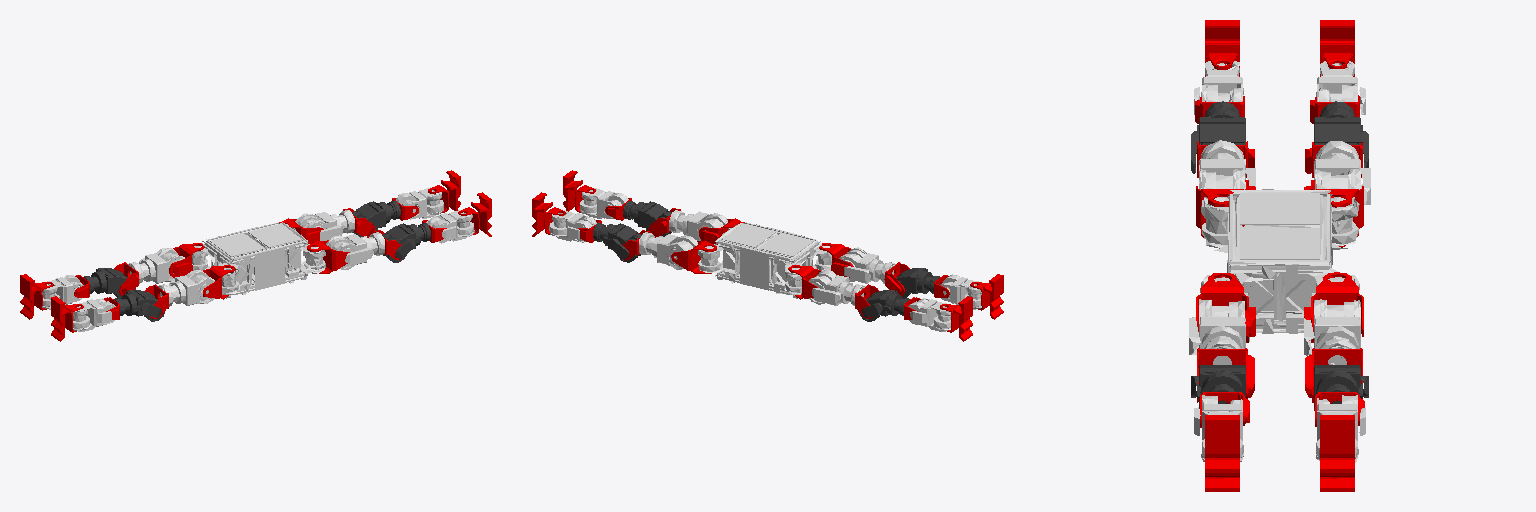
--- Render facts (derived) ---
3 views of the same robot in one strip: view 1: azimuth 30°, elevation 25°; view 2: azimuth 150°, elevation 25°; view 3: azimuth 270°, elevation 25° (orthographic).
Model warec with 37 links and 36 joints (20 revolute, 8 continuous, 8 fixed), rooted at BASE, posed every joint at zero.
Visible links, largest first — view 1: BASE, FR_HIP_P, RR_HIP_P, RL_HIP_P, FL_HIP_P, FR_KNEE_P, RR_ANKLE_P, RR_KNEE_P, FR_ANKLE_P, FL_ANKLE_P, FL_KNEE_P, RL_KNEE_P (+6 smaller); view 2: BASE, RL_HIP_P, FL_HIP_P, RR_HIP_P, FR_HIP_P, FL_KNEE_P, RL_ANKLE_P, RL_KNEE_P, FL_ANKLE_P, FR_ANKLE_P, FR_KNEE_P, RR_ANKLE_P (+4 smaller); view 3: BASE, FL_HOOK, FR_HOOK, FL_HIP_P, FR_HIP_P, RL_HIP_P, RR_HIP_P, RR_KNEE_P, RL_KNEE_P, RL_ANKLE_P, FR_HIP_R, RR_ANKLE_P (+12 smaller).
Boxes of the visible links, left/top/right/bottom form: BASE: left=192, top=222, right=325, bottom=298; FR_HIP_P: left=326, top=232, right=384, bottom=269; RR_HIP_P: left=158, top=270, right=214, bottom=306; RL_HIP_P: left=128, top=248, right=184, bottom=283; FL_HIP_P: left=295, top=210, right=354, bottom=240; FR_KNEE_P: left=382, top=223, right=430, bottom=262; RR_ANKLE_P: left=72, top=298, right=115, bottom=331; RR_KNEE_P: left=114, top=290, right=164, bottom=321; FR_ANKLE_P: left=426, top=210, right=474, bottom=243; FL_ANKLE_P: left=396, top=187, right=443, bottom=219; FL_KNEE_P: left=352, top=201, right=400, bottom=236; RL_KNEE_P: left=84, top=268, right=135, bottom=298; BASE: left=698, top=222, right=831, bottom=298; RL_HIP_P: left=809, top=270, right=865, bottom=305; FL_HIP_P: left=639, top=232, right=697, bottom=269; RR_HIP_P: left=839, top=247, right=895, bottom=283; FR_HIP_P: left=669, top=210, right=727, bottom=240; FL_KNEE_P: left=593, top=223, right=641, bottom=262; RL_ANKLE_P: left=908, top=298, right=950, bottom=331; RL_KNEE_P: left=858, top=290, right=909, bottom=321; FL_ANKLE_P: left=549, top=209, right=596, bottom=242; FR_ANKLE_P: left=580, top=188, right=628, bottom=218; FR_KNEE_P: left=623, top=201, right=671, bottom=236; RR_ANKLE_P: left=940, top=274, right=981, bottom=309; BASE: left=1200, top=189, right=1359, bottom=341; FL_HOOK: left=1320, top=415, right=1354, bottom=491; FR_HOOK: left=1205, top=415, right=1239, bottom=491; FL_HIP_P: left=1304, top=299, right=1360, bottom=364; FR_HIP_P: left=1189, top=299, right=1245, bottom=364; RL_HIP_P: left=1314, top=141, right=1370, bottom=204; RR_HIP_P: left=1199, top=140, right=1255, bottom=189; RR_KNEE_P: left=1191, top=101, right=1245, bottom=173; RL_KNEE_P: left=1314, top=101, right=1368, bottom=167; RL_ANKLE_P: left=1316, top=61, right=1365, bottom=114; FR_HIP_R: left=1196, top=273, right=1255, bottom=342; RR_ANKLE_P: left=1194, top=61, right=1243, bottom=114.
Bounding box of the posed robot: 2.71 × 0.5218 × 0.2675 m (x, y, z).
Meshes: 33 distinct files referenced, 33 mesh visuals loaded (33 Collada DAE).

The robot description file, URDF, robot "warec":
<robot name="warec">
  <link name="RL_HIP_R">
    <inertial>
      <mass value="2.4001" />
      <origin xyz="-0.00771 -0.01238 -0.09652" rpy="0 -0 0" />
      <inertia ixx="0.01764829" ixy="-0.00022958" ixz="-0.00178949" iyy="0.01677372" iyz="0.00202659" izz="0.00834906" />
    </inertial>
    <visual>
      <origin xyz="0.0 0.0 0.0" rpy="0.0 -0.0 0.0" />
      <geometry>
        <mesh filename="package://aizu_spider_tnk_description/urdf/warec/warec-RL_HIP_R-visual-0.dae" scale="1.0 1.0 1.0" />
      </geometry>
    </visual>
    <collision>
      <origin xyz="-0.0705 0.0 0.0" rpy="1.57079632679 -3.88578058619e-16 1.57079632679" />
      <geometry>
        <cylinder radius="0.04" length="0.008" />
      </geometry>
    </collision>
    <collision>
      <origin xyz="-0.0705 -0.021 -0.044" rpy="1.23918376892 -0.0 -0.0" />
      <geometry>
        <box size="0.008 0.06 0.06" />
      </geometry>
    </collision>
    <collision>
      <origin xyz="-0.0705 0.021 -0.044" rpy="1.90240888467 -0.0 -0.0" />
      <geometry>
        <box size="0.008 0.06 0.06" />
      </geometry>
    </collision>
    <collision>
      <origin xyz="-0.0705 0.0 -0.071" rpy="1.57079632679 -0.0 -0.0" />
      <geometry>
        <box size="0.008 0.022 0.12" />
      </geometry>
    </collision>
    <collision>
      <origin xyz="0.0 0.0 -0.077" rpy="-0.0 1.57079632679 0.0" />
      <geometry>
        <box size="0.01 0.125 0.14" />
      </geometry>
    </collision>
    <collision>
      <origin xyz="0.0705 0.0 0.0" rpy="1.57079632679 -3.88578058619e-16 1.57079632679" />
      <geometry>
        <cylinder radius="0.025" length="0.008" />
      </geometry>
    </collision>
    <collision>
      <origin xyz="0.0705 -0.026 -0.048" rpy="1.08210413624 -0.0 -0.0" />
      <geometry>
        <box size="0.008 0.05 0.05" />
      </geometry>
    </collision>
    <collision>
      <origin xyz="0.0705 -0.012 -0.022" rpy="1.08210413624 -0.0 -0.0" />
      <geometry>
        <box size="0.008 0.05 0.05" />
      </geometry>
    </collision>
    <collision>
      <origin xyz="0.0705 0.026 -0.048" rpy="2.05948851735 -0.0 -0.0" />
      <geometry>
        <box size="0.008 0.05 0.05" />
      </geometry>
    </collision>
    <collision>
      <origin xyz="0.0705 0.012 -0.022" rpy="2.05948851735 -0.0 -0.0" />
      <geometry>
        <box size="0.008 0.05 0.05" />
      </geometry>
    </collision>
    <collision>
      <origin xyz="0.0705 0.0 -0.071" rpy="1.57079632679 -0.0 -0.0" />
      <geometry>
        <box size="0.008 0.024 0.123" />
      </geometry>
    </collision>
    <collision>
      <origin xyz="0.0705 0.0 -0.05" rpy="1.57079632679 -0.0 -0.0" />
      <geometry>
        <box size="0.008 0.024 0.02" />
      </geometry>
    </collision>
    <collision>
      <origin xyz="0.0 0.0705 -0.17" rpy="1.57079632679 1.57079632679 0.0" />
      <geometry>
        <cylinder radius="0.03" length="0.008" />
      </geometry>
    </collision>
    <collision>
      <origin xyz="-0.026 0.0705 -0.11" rpy="-0.0 1.2217304764 -0.0" />
      <geometry>
        <box size="0.05 0.008 0.05" />
      </geometry>
    </collision>
    <collision>
      <origin xyz="-0.0163 0.0705 -0.136" rpy="-0.0 1.2217304764 -0.0" />
      <geometry>
        <box size="0.05 0.008 0.05" />
      </geometry>
    </collision>
    <collision>
      <origin xyz="0.026 0.0705 -0.11" rpy="-3.14159265359 1.2217304764 -3.14159265359" />
      <geometry>
        <box size="0.05 0.008 0.05" />
      </geometry>
    </collision>
    <collision>
      <origin xyz="0.0163 0.0705 -0.136" rpy="-3.14159265359 1.2217304764 -3.14159265359" />
      <geometry>
        <box size="0.05 0.008 0.05" />
      </geometry>
    </collision>
    <collision>
      <origin xyz="0.0 0.0685 -0.085" rpy="-0.0 1.57079632679 0.0" />
      <geometry>
        <box size="0.02 0.013 0.118" />
      </geometry>
    </collision>
    <collision>
      <origin xyz="0.0 0.0705 -0.099" rpy="-0.0 1.57079632679 0.0" />
      <geometry>
        <box size="0.024 0.008 0.02" />
      </geometry>
    </collision>
    <collision>
      <origin xyz="0.0 -0.0705 -0.17" rpy="1.57079632679 1.57079632679 0.0" />
      <geometry>
        <cylinder radius="0.046" length="0.008" />
      </geometry>
    </collision>
    <collision>
      <origin xyz="-0.03 -0.0705 -0.11" rpy="-0.0 1.41371669412 -0.0" />
      <geometry>
        <box size="0.05 0.008 0.05" />
      </geometry>
    </collision>
    <collision>
      <origin xyz="-0.0263 -0.0705 -0.136" rpy="-0.0 1.41371669412 -0.0" />
      <geometry>
        <box size="0.06 0.008 0.05" />
      </geometry>
    </collision>
    <collision>
      <origin xyz="0.03 -0.0705 -0.11" rpy="-3.14159265359 1.41371669412 -3.14159265359" />
      <geometry>
        <box size="0.05 0.008 0.05" />
      </geometry>
    </collision>
    <collision>
      <origin xyz="0.0263 -0.0705 -0.136" rpy="-3.14159265359 1.41371669412 -3.14159265359" />
      <geometry>
        <box size="0.06 0.008 0.05" />
      </geometry>
    </collision>
    <collision>
      <origin xyz="0.0 -0.0685 -0.085" rpy="-0.0 1.57079632679 0.0" />
      <geometry>
        <box size="0.02 0.013 0.118" />
      </geometry>
    </collision>
    <collision>
      <origin xyz="0.0 -0.0705 -0.11" rpy="-0.0 1.57079632679 0.0" />
      <geometry>
        <box size="0.04 0.008 0.02" />
      </geometry>
    </collision>
    <collision>
      <origin xyz="0.0 -0.085 -0.14" rpy="-0.0 1.57079632679 0.0" />
      <geometry>
        <box size="0.117 0.02 0.063" />
      </geometry>
    </collision>
  </link>
  <link name="RL_HIP_P">
    <inertial>
      <mass value="8.64" />
      <origin xyz="-1e-05 0.00091 -0.07045" rpy="0 -0 0" />
      <inertia ixx="0.08705723" ixy="-5.01e-06" ixz="-6.22e-06" iyy="0.08623435" iyz="0.00027574" izz="0.02298262" />
    </inertial>
    <visual>
      <origin xyz="0.0 0.0 0.0" rpy="0.0 -0.0 0.0" />
      <geometry>
        <mesh filename="package://aizu_spider_tnk_description/urdf/warec/warec-RL_HIP_P-visual-0.dae" scale="1.0 1.0 1.0" />
      </geometry>
    </visual>
    <collision>
      <origin xyz="0.0 0.0 -0.092" rpy="0.0 -0.0 0.0" />
      <geometry>
        <box size="0.12 0.13 0.06" />
      </geometry>
    </collision>
    <collision>
      <origin xyz="0.0 0.0815 -0.065" rpy="-0.0 1.57079632679 0.0" />
      <geometry>
        <box size="0.19 0.029 0.058" />
      </geometry>
    </collision>
    <collision>
      <origin xyz="0.0 0.0 0.0" rpy="1.57079632679 1.57079632679 0.0" />
      <geometry>
        <cylinder radius="0.061" length="0.045" />
      </geometry>
    </collision>
    <collision>
      <origin xyz="0.0 -0.038 0.0" rpy="1.57079632679 1.57079632679 0.0" />
      <geometry>
        <cylinder radius="0.078" length="0.052" />
      </geometry>
    </collision>
    <collision>
      <origin xyz="0.0 0.045 0.0" rpy="1.57079632679 1.57079632679 0.0" />
      <geometry>
        <cylinder radius="0.078" length="0.038" />
      </geometry>
    </collision>
    <collision>
      <origin xyz="0.0 0.0 -0.138" rpy="3.14159265359 -0.0 0.0" />
      <geometry>
        <cylinder radius="0.061" length="0.042" />
      </geometry>
    </collision>
    <collision>
      <origin xyz="0.0 0.0 -0.222" rpy="3.14159265359 -0.0 0.0" />
      <geometry>
        <cylinder radius="0.061" length="0.042" />
      </geometry>
    </collision>
    <collision>
      <origin xyz="0.0 0.0 -0.178" rpy="3.14159265359 -0.0 0.0" />
      <geometry>
        <cylinder radius="0.045" length="0.05" />
      </geometry>
    </collision>
  </link>
  <link name="RL_HIP_Y">
    <inertial>
      <mass value="1.72" />
      <origin xyz="0.0199 -0.01113 -0.02905" rpy="0 -0 0" />
      <inertia ixx="0.00864071" ixy="-0.00039465" ixz="-0.00167025" iyy="0.00651989" iyz="0.00083342" izz="0.00534558" />
    </inertial>
    <visual>
      <origin xyz="0.0 0.0 0.0" rpy="0.0 -0.0 0.0" />
      <geometry>
        <mesh filename="package://aizu_spider_tnk_description/urdf/warec/warec-RL_HIP_Y-visual-0.dae" scale="1.0 1.0 1.0" />
      </geometry>
    </visual>
    <collision>
      <origin xyz="0.0 0.0 -0.008" rpy="1.57079632679 -0.0 -0.0" />
      <geometry>
        <box size="0.086 0.01 0.145" />
      </geometry>
    </collision>
    <collision>
      <origin xyz="0.0 0.07125 -0.024" rpy="0.0 -0.0 0.0" />
      <geometry>
        <box size="0.08 0.006 0.04" />
      </geometry>
    </collision>
    <collision>
      <origin xyz="0.001 0.07125 -0.056" rpy="-0.0 0.872664625997 -0.0" />
      <geometry>
        <box size="0.08 0.006 0.04" />
      </geometry>
    </collision>
    <collision>
      <origin xyz="0.0458 0.07125 -0.051" rpy="-0.0 0.785398163397 -0.0" />
      <geometry>
        <box size="0.057 0.006 0.04" />
      </geometry>
    </collision>
    <collision>
      <origin xyz="0.0 0.0 -0.005" rpy="3.14159265359 -0.0 0.0" />
      <geometry>
        <cylinder radius="0.04" length="0.01" />
      </geometry>
    </collision>
    <collision>
      <origin xyz="0.043 0.07125 -0.075" rpy="1.57079632679 -0.0 -0.0" />
      <geometry>
        <cylinder radius="0.041" length="0.006" />
      </geometry>
    </collision>
    <collision>
      <origin xyz="0.0 -0.07125 -0.024" rpy="0.0 -0.0 0.0" />
      <geometry>
        <box size="0.08 0.006 0.04" />
      </geometry>
    </collision>
    <collision>
      <origin xyz="0.001 -0.07125 -0.056" rpy="-0.0 0.872664625997 -0.0" />
      <geometry>
        <box size="0.08 0.006 0.04" />
      </geometry>
    </collision>
    <collision>
      <origin xyz="0.0458 -0.07125 -0.051" rpy="-0.0 0.785398163397 -0.0" />
      <geometry>
        <box size="0.057 0.006 0.04" />
      </geometry>
    </collision>
    <collision>
      <origin xyz="0.018 -0.08035 -0.058" rpy="-0.0 0.767944870878 -0.0" />
      <geometry>
        <box size="0.12 0.024 0.038" />
      </geometry>
    </collision>
    <collision>
      <origin xyz="0.043 -0.06825 -0.075" rpy="1.57079632679 -0.0 -0.0" />
      <geometry>
        <cylinder radius="0.041" length="0.012" />
      </geometry>
    </collision>
  </link>
  <link name="RL_KNEE_P">
    <inertial>
      <mass value="5.72" />
      <origin xyz="-0.02134 -0.00027 -0.06496" rpy="0 -0 0" />
      <inertia ixx="0.04513699" ixy="-9.396e-05" ixz="0.00925777" iyy="0.04550396" iyz="-0.00017902" izz="0.01607654" />
    </inertial>
    <visual>
      <origin xyz="0.0 0.0 0.0" rpy="0.0 -0.0 0.0" />
      <geometry>
        <mesh filename="package://aizu_spider_tnk_description/urdf/warec/warec-RL_KNEE_P-visual-0.dae" scale="1.0 1.0 1.0" />
      </geometry>
    </visual>
    <collision>
      <origin xyz="-0.045 0.0 -0.09" rpy="-0.0 1.57079632679 0.0" />
      <geometry>
        <box size="0.04 0.13 0.1" />
      </geometry>
    </collision>
    <collision>
      <origin xyz="-0.03 0.0 -0.04" rpy="-3.14159265359 1.308996939 -3.14159265359" />
      <geometry>
        <box size="0.068 0.13 0.081" />
      </geometry>
    </collision>
    <collision>
      <origin xyz="-0.023 0.078 -0.036" rpy="-0.0 0.575958653158 -0.0" />
      <geometry>
        <box size="0.065 0.024 0.142" />
      </geometry>
    </collision>
    <collision>
      <origin xyz="-0.047 0.071 -0.118" rpy="-0.191986217719 -0.0 0.0" />
      <geometry>
        <box size="0.03 0.016 0.058" />
      </geometry>
    </collision>
    <collision>
      <origin xyz="0.0 -0.05025 0.0" rpy="1.57079632679 -0.0 -0.0" />
      <geometry>
        <cylinder radius="0.061" length="0.03" />
      </geometry>
    </collision>
    <collision>
      <origin xyz="0.0 -0.02925 0.0" rpy="1.57079632679 -0.0 -0.0" />
      <geometry>
        <cylinder radius="0.057" length="0.013" />
      </geometry>
    </collision>
    <collision>
      <origin xyz="0.0 -0.004 0.0" rpy="1.57079632679 -0.0 -0.0" />
      <geometry>
        <cylinder radius="0.045" length="0.068" />
      </geometry>
    </collision>
    <collision>
      <origin xyz="0.0 0.048 0.0" rpy="1.57079632679 -0.0 -0.0" />
      <geometry>
        <cylinder radius="0.061" length="0.036" />
      </geometry>
    </collision>
    <collision>
      <origin xyz="-0.044 0.0 -0.1284" rpy="3.14159265359 -0.0 0.0" />
      <geometry>
        <cylinder radius="0.061" length="0.036" />
      </geometry>
    </collision>
    <collision>
      <origin xyz="-0.046 0.0 -0.16184" rpy="3.14159265359 -0.0 0.0" />
      <geometry>
        <cylinder radius="0.039" length="0.033" />
      </geometry>
    </collision>
    <collision>
      <origin xyz="-0.046 0.0 -0.1844" rpy="3.14159265359 -0.0 0.0" />
      <geometry>
        <cylinder radius="0.046" length="0.013" />
      </geometry>
    </collision>
    <collision>
      <origin xyz="-0.046 0.0 -0.2024" rpy="3.14159265359 -0.0 0.0" />
      <geometry>
        <cylinder radius="0.05" length="0.027" />
      </geometry>
    </collision>
  </link>
  <link name="RL_ANKLE_Y">
    <inertial>
      <mass value="1.16" />
      <origin xyz="0.0 -0.00909 -0.02873" rpy="0 -0 0" />
      <inertia ixx="0.00482359" ixy="3e-08" ixz="0.0" iyy="0.0033678" iyz="0.00044654" izz="0.00216019" />
    </inertial>
    <visual>
      <origin xyz="0.0 0.0 0.0" rpy="0.0 -0.0 0.0" />
      <geometry>
        <mesh filename="package://aizu_spider_tnk_description/urdf/warec/warec-RL_ANKLE_Y-visual-0.dae" scale="1.0 1.0 1.0" />
      </geometry>
    </visual>
    <collision>
      <origin xyz="0.0 0.0 -0.009" rpy="0.0 -0.0 0.0" />
      <geometry>
        <box size="0.09 0.13 0.007" />
      </geometry>
    </collision>
    <collision>
      <origin xyz="0.0 0.0618 -0.08" rpy="1.57079632679 1.57079632679 0.0" />
      <geometry>
        <cylinder radius="0.03" length="0.008" />
      </geometry>
    </collision>
    <collision>
      <origin xyz="-0.0097 0.0618 -0.057" rpy="-0.0 1.34390352404 -0.0" />
      <geometry>
        <box size="0.05 0.008 0.05" />
      </geometry>
    </collision>
    <collision>
      <origin xyz="0.0097 0.0618 -0.057" rpy="-3.14159265359 1.34390352404 -3.14159265359" />
      <geometry>
        <box size="0.05 0.008 0.05" />
      </geometry>
    </collision>
    <collision>
      <origin xyz="0.0 0.0618 -0.025" rpy="-0.0 1.57079632679 0.0" />
      <geometry>
        <box size="0.035 0.008 0.0797" />
      </geometry>
    </collision>
    <collision>
      <origin xyz="0.0 -0.0618 -0.08" rpy="1.57079632679 1.57079632679 0.0" />
      <geometry>
        <cylinder radius="0.03" length="0.008" />
      </geometry>
    </collision>
    <collision>
      <origin xyz="-0.0097 -0.0618 -0.057" rpy="-0.0 1.34390352404 -0.0" />
      <geometry>
        <box size="0.05 0.008 0.05" />
      </geometry>
    </collision>
    <collision>
      <origin xyz="0.0097 -0.0618 -0.057" rpy="-3.14159265359 1.34390352404 -3.14159265359" />
      <geometry>
        <box size="0.05 0.008 0.05" />
      </geometry>
    </collision>
    <collision>
      <origin xyz="0.0 -0.0618 -0.025" rpy="-0.0 1.57079632679 0.0" />
      <geometry>
        <box size="0.035 0.008 0.0797" />
      </geometry>
    </collision>
    <collision>
      <origin xyz="0.0 -0.0705 -0.08" rpy="1.57079632679 1.57079632679 0.0" />
      <geometry>
        <cylinder radius="0.02" length="0.0155" />
      </geometry>
    </collision>
    <collision>
      <origin xyz="-0.0097 -0.0705 -0.057" rpy="-0.0 1.34390352404 -0.0" />
      <geometry>
        <box size="0.04 0.0155 0.03" />
      </geometry>
    </collision>
    <collision>
      <origin xyz="0.0097 -0.0705 -0.057" rpy="-3.14159265359 1.34390352404 -3.14159265359" />
      <geometry>
        <box size="0.04 0.0155 0.03" />
      </geometry>
    </collision>
    <collision>
      <origin xyz="0.0 -0.0705 -0.029" rpy="-0.0 1.57079632679 0.0" />
      <geometry>
        <box size="0.026 0.0155 0.058" />
      </geometry>
    </collision>
  </link>
  <link name="RL_ANKLE_P">
    <inertial>
      <mass value="5.06" />
      <origin xyz="0.00215 0.0017 -0.07672" rpy="0 -0 0" />
      <inertia ixx="0.03534068" ixy="-2.587e-05" ixz="-0.00070201" iyy="0.0355447" iyz="0.00069448" izz="0.01095592" />
    </inertial>
    <visual>
      <origin xyz="0.0 0.0 0.0" rpy="0.0 -0.0 0.0" />
      <geometry>
        <mesh filename="package://aizu_spider_tnk_description/urdf/warec/warec-RL_ANKLE_P-visual-0.dae" scale="1.0 1.0 1.0" />
      </geometry>
    </visual>
    <collision>
      <origin xyz="0.0 0.0 -0.055" rpy="-0.0 1.57079632679 0.0" />
      <geometry>
        <box size="0.04 0.117 0.11" />
      </geometry>
    </collision>
    <collision>
      <origin xyz="0.0 -0.0557 -0.02" rpy="-0.0 1.57079632679 0.0" />
      <geometry>
        <box size="0.04 0.006 0.1" />
      </geometry>
    </collision>
    <collision>
      <origin xyz="0.0 0.068 -0.027" rpy="-0.0 1.57079632679 0.0" />
      <geometry>
        <box size="0.1 0.03 0.06" />
      </geometry>
    </collision>
    <collision>
      <origin xyz="-0.0545 0.0 -0.097" rpy="-0.0 1.57079632679 0.0" />
      <geometry>
        <box size="0.045 0.084 0.0058" />
      </geometry>
    </collision>
    <collision>
      <origin xyz="0.0545 0.0 -0.097" rpy="-0.0 1.57079632679 0.0" />
      <geometry>
        <box size="0.045 0.084 0.0058" />
      </geometry>
    </collision>
    <collision>
      <origin xyz="0.07 0.0 -0.121" rpy="-0.0 1.57079632679 0.0" />
      <geometry>
        <box size="0.124 0.058 0.024" />
      </geometry>
    </collision>
    <collision>
      <origin xyz="0.0 -0.0402 0.0" rpy="1.57079632679 1.57079632679 0.0" />
      <geometry>
        <cylinder radius="0.05" length="0.037" />
      </geometry>
    </collision>
    <collision>
      <origin xyz="0.0 -0.0025 0.0" rpy="1.57079632679 1.57079632679 0.0" />
      <geometry>
        <cylinder radius="0.038" length="0.037" />
      </geometry>
    </collision>
    <collision>
      <origin xyz="0.0 0.035 0.0" rpy="1.57079632679 1.57079632679 0.0" />
      <geometry>
        <cylinder radius="0.061" length="0.046" />
      </geometry>
    </collision>
    <collision>
      <origin xyz="-0.0395 0.0 -0.154" rpy="1.57079632679 -3.88578058619e-16 1.57079632679" />
      <geometry>
        <cylinder radius="0.05" length="0.036" />
      </geometry>
    </collision>
    <collision>
      <origin xyz="-0.0035 0.0 -0.154" rpy="1.57079632679 -3.88578058619e-16 1.57079632679" />
      <geometry>
        <cylinder radius="0.038" length="0.036" />
      </geometry>
    </collision>
    <collision>
      <origin xyz="0.035 0.0 -0.154" rpy="1.57079632679 -3.88578058619e-16 1.57079632679" />
      <geometry>
        <cylinder radius="0.061" length="0.0454" />
      </geometry>
    </collision>
  </link>
  <link name="RL_ANKLE_R">
    <inertial>
      <mass value="0.82" />
      <origin xyz="-0.01007 0.0 -0.02816" rpy="0 -0 0" />
      <inertia ixx="0.00132859" ixy="-2.8e-07" ixz="-0.00019601" iyy="0.00261108" iyz="-1.2e-07" izz="0.00200116" />
    </inertial>
    <visual>
      <origin xyz="0.0 0.0 0.0" rpy="0.0 -0.0 0.0" />
      <geometry>
        <mesh filename="package://aizu_spider_tnk_description/urdf/warec/warec-RL_ANKLE_R-visual-0.dae" scale="1.0 1.0 1.0" />
      </geometry>
    </visual>
    <collision>
      <origin xyz="0.0 0.0 -0.07" rpy="0.0 -0.0 0.0" />
      <geometry>
        <box size="0.12 0.077 0.006" />
      </geometry>
    </collision>
    <collision>
      <origin xyz="-0.063 0.0 -0.06" rpy="-0.0 1.57079632679 0.0" />
      <geometry>
        <box size="0.024 0.08 0.0057" />
      </geometry>
    </collision>
    <collision>
      <origin xyz="-0.063 -0.0139 -0.035" rpy="1.308996939 -0.0 -0.0" />
      <geometry>
        <box size="0.0057 0.04 0.044" />
      </geometry>
    </collision>
    <collision>
      <origin xyz="-0.063 0.0155 -0.035" rpy="0.261799387799 -0.0 -0.0" />
      <geometry>
        <box size="0.0057 0.04 0.044" />
      </geometry>
    </collision>
    <collision>
      <origin xyz="-0.06 0.0 0.0" rpy="1.57079632679 -3.88578058619e-16 1.57079632679" />
      <geometry>
        <cylinder radius="0.028" length="0.012" />
      </geometry>
    </collision>
    <collision>
      <origin xyz="0.063 0.0 -0.06" rpy="-0.0 1.57079632679 0.0" />
      <geometry>
        <box size="0.024 0.08 0.0057" />
      </geometry>
    </collision>
    <collision>
      <origin xyz="0.063 -0.0139 -0.035" rpy="1.308996939 -0.0 -0.0" />
      <geometry>
        <box size="0.0057 0.04 0.044" />
      </geometry>
    </collision>
    <collision>
      <origin xyz="0.063 0.0155 -0.035" rpy="0.261799387799 -0.0 -0.0" />
      <geometry>
        <box size="0.0057 0.04 0.044" />
      </geometry>
    </collision>
    <collision>
      <origin xyz="0.063 0.0 0.0" rpy="1.57079632679 -3.88578058619e-16 1.57079632679" />
      <geometry>
        <cylinder radius="0.028" length="0.006" />
      </geometry>
    </collision>
  </link>
  <link name="RL_HOOK">
    <inertial>
      <mass value="1e-06" />
      <origin xyz="0 0 0" rpy="0 -0 0" />
      <inertia ixx="1.0" ixy="0.0" ixz="0.0" iyy="1.0" iyz="0.0" izz="1.0" />
    </inertial>
    <visual>
      <origin xyz="0.0 0.0 -0.0225" rpy="0.0 -0.0 0.0" />
      <geometry>
        <mesh filename="package://aizu_spider_tnk_description/urdf/warec/warec-RL_HOOK-visual-0.dae" scale="1.0 1.0 1.0" />
      </geometry>
    </visual>
    <collision>
      <origin xyz="0.0 0.0 0.0" rpy="3.14159265359 -0.0 0.0" />
      <geometry>
        <cylinder radius="0.05" length="0.045" />
      </geometry>
    </collision>
    <collision>
      <origin xyz="-0.0772 0.0 -0.045899999999999996" rpy="0.0 -0.0 0.0" />
      <geometry>
        <box size="0.1057 0.1 0.0126" />
      </geometry>
    </collision>
    <collision>
      <origin xyz="-0.1 0.0 -0.039099999999999996" rpy="-0.0 0.261799387799 -0.0" />
      <geometry>
        <box size="0.059 0.1 0.011" />
      </geometry>
    </collision>
    <collision>
      <origin xyz="-0.118 0.0 -0.0291" rpy="-0.0 0.785398163397 -0.0" />
      <geometry>
        <box size="0.02 0.1 0.011" />
      </geometry>
    </collision>
    <collision>
      <origin xyz="-0.1251 0.0 -0.0355" rpy="-0.0 1.57079632679 0.0" />
      <geometry>
        <box size="0.034 0.1 0.01" />
      </geometry>
    </collision>
    <collision>
      <origin xyz="0.0033 0.0 -0.0265" rpy="0.0 -0.0 0.0" />
      <geometry>
        <box size="0.143 0.1 0.0078" />
      </geometry>
    </collision>
    <collision>
      <origin xyz="-0.0414 0.0 -0.0353" rpy="0.0 -0.0 0.0" />
      <geometry>
        <box size="0.054 0.1 0.01" />
      </geometry>
    </collision>
    <collision>
      <origin xyz="-0.068 0.0 -0.0034000000000000002" rpy="-0.0 1.57079632679 0.0" />
      <geometry>
        <box size="0.042 0.1 0.0038" />
      </geometry>
    </collision>
    <collision>
      <origin xyz="-0.0705 0.0 -0.008499999999999999" rpy="-0.0 1.308996939 -0.0" />
      <geometry>
        <box size="0.042 0.1 0.007" />
      </geometry>
    </collision>
    <collision>
      <origin xyz="-0.0725 0.0 0.010800000000000004" rpy="-0.0 1.57079632679 0.0" />
      <geometry>
        <box size="0.0135 0.1 0.013" />
      </geometry>
    </collision>
    <collision>
      <origin xyz="-0.0787 0.0 0.013499999999999998" rpy="-0.0 1.57079632679 0.0" />
      <geometry>
        <box size="0.008 0.1 0.013" />
      </geometry>
    </collision>
    <collision>
      <origin xyz="-0.0772 0.0 0.008" rpy="-0.0 0.785398163397 -0.0" />
      <geometry>
        <box size="0.013 0.1 0.01" />
      </geometry>
    </collision>
    <collision>
      <origin xyz="-0.0164 0.0 -0.0373" rpy="-3.14159265359 0.785398163397 -3.14159265359" />
      <geometry>
        <box size="0.032 0.1 0.01" />
      </geometry>
    </collision>
    <collision>
      <origin xyz="0.01675 0.0 -0.0373" rpy="-0.0 0.785398163397 -0.0" />
      <geometry>
        <box size="0.032 0.1 0.01" />
      </geometry>
    </collision>
    <collision>
      <origin xyz="0.04275 0.0 -0.0373" rpy="-3.14159265359 0.785398163397 -3.14159265359" />
      <geometry>
        <box size="0.032 0.1 0.01" />
      </geometry>
    </collision>
    <collision>
      <origin xyz="0.0297 0.0 -0.0348" rpy="0.0 -0.0 0.0" />
      <geometry>
        <box size="0.027 0.1 0.017" />
      </geometry>
    </collision>
    <collision>
      <origin xyz="0.0297 0.0 -0.048600000000000004" rpy="0.0 -0.0 0.0" />
      <geometry>
        <box size="0.011 0.1 0.007" />
      </geometry>
    </collision>
    <collision>
      <origin xyz="0.0801 0.0 -0.0378" rpy="-0.0 0.785398163397 -0.0" />
      <geometry>
        <box size="0.028 0.1 0.014" />
      </geometry>
    </collision>
    <collision>
      <origin xyz="0.067 0.0 -0.028999999999999998" rpy="-0.0 0.349065850399 -0.0" />
      <geometry>
        <box size="0.013 0.1 0.008" />
      </geometry>
    </collision>
    <collision>
      <origin xyz="0.0897 0.0 -0.0475" rpy="0.0 -0.0 0.0" />
      <geometry>
        <box size="0.01 0.1 0.01" />
      </geometry>
    </collision>
  </link>
  <link name="RR_HIP_R">
    <inertial>
      <mass value="2.4001" />
      <origin xyz="-0.00771 0.01238 -0.09652" rpy="0 -0 0" />
      <inertia ixx="0.01764809" ixy="0.00022896" ixz="-0.00178956" iyy="0.01677341" iyz="-0.00202747" izz="0.00834914" />
    </inertial>
    <visual>
      <origin xyz="0.0 0.0 0.0" rpy="0.0 -0.0 0.0" />
      <geometry>
        <mesh filename="package://aizu_spider_tnk_description/urdf/warec/warec-RR_HIP_R-visual-0.dae" scale="1.0 1.0 1.0" />
      </geometry>
    </visual>
    <collision>
      <origin xyz="-0.0705 0.0 0.0" rpy="1.57079632679 -3.88578058619e-16 1.57079632679" />
      <geometry>
        <cylinder radius="0.04" length="0.008" />
      </geometry>
    </collision>
    <collision>
      <origin xyz="-0.0705 -0.021 -0.044" rpy="1.23918376892 -0.0 -0.0" />
      <geometry>
        <box size="0.008 0.06 0.06" />
      </geometry>
    </collision>
    <collision>
      <origin xyz="-0.0705 0.021 -0.044" rpy="1.90240888467 -0.0 -0.0" />
      <geometry>
        <box size="0.008 0.06 0.06" />
      </geometry>
    </collision>
    <collision>
      <origin xyz="-0.0705 0.0 -0.071" rpy="1.57079632679 -0.0 -0.0" />
      <geometry>
        <box size="0.008 0.022 0.12" />
      </geometry>
    </collision>
    <collision>
      <origin xyz="0.0 0.0 -0.077" rpy="-0.0 1.57079632679 0.0" />
      <geometry>
        <box size="0.01 0.125 0.14" />
      </geometry>
    </collision>
    <collision>
      <origin xyz="0.0705 0.0 0.0" rpy="1.57079632679 -3.88578058619e-16 1.57079632679" />
      <geometry>
        <cylinder radius="0.025" length="0.008" />
      </geometry>
    </collision>
    <collision>
      <origin xyz="0.0705 -0.026 -0.048" rpy="1.08210413624 -0.0 -0.0" />
      <geometry>
        <box size="0.008 0.05 0.05" />
      </geometry>
    </collision>
    <collision>
      <origin xyz="0.0705 -0.012 -0.022" rpy="1.08210413624 -0.0 -0.0" />
      <geometry>
        <box size="0.008 0.05 0.05" />
      </geometry>
    </collision>
    <collision>
      <origin xyz="0.0705 0.026 -0.048" rpy="2.05948851735 -0.0 -0.0" />
      <geometry>
        <box size="0.008 0.05 0.05" />
      </geometry>
    </collision>
    <collision>
      <origin xyz="0.0705 0.012 -0.022" rpy="2.05948851735 -0.0 -0.0" />
      <geometry>
        <box size="0.008 0.05 0.05" />
      </geometry>
    </collision>
    <collision>
      <origin xyz="0.0705 0.0 -0.071" rpy="1.57079632679 -0.0 -0.0" />
      <geometry>
        <box size="0.008 0.024 0.123" />
      </geometry>
    </collision>
    <collision>
      <origin xyz="0.0705 0.0 -0.05" rpy="1.57079632679 -0.0 -0.0" />
      <geometry>
        <box size="0.008 0.024 0.02" />
      </geometry>
    </collision>
    <collision>
      <origin xyz="0.0 0.0705 -0.17" rpy="1.57079632679 1.57079632679 0.0" />
      <geometry>
        <cylinder radius="0.046" length="0.008" />
      </geometry>
    </collision>
    <collision>
      <origin xyz="-0.03 0.0705 -0.11" rpy="-0.0 1.41371669412 -0.0" />
      <geometry>
        <box size="0.05 0.008 0.05" />
      </geometry>
    </collision>
    <collision>
      <origin xyz="-0.0263 0.0705 -0.136" rpy="-0.0 1.41371669412 -0.0" />
      <geometry>
        <box size="0.05 0.008 0.05" />
      </geometry>
    </collision>
    <collision>
      <origin xyz="0.03 0.0705 -0.11" rpy="-3.14159265359 1.41371669412 -3.14159265359" />
      <geometry>
        <box size="0.05 0.008 0.05" />
      </geometry>
    </collision>
    <collision>
      <origin xyz="0.0263 0.0705 -0.136" rpy="-3.14159265359 1.41371669412 -3.14159265359" />
      <geometry>
        <box size="0.05 0.008 0.05" />
      </geometry>
    </collision>
    <collision>
      <origin xyz="0.0 0.0685 -0.085" rpy="-0.0 1.57079632679 0.0" />
      <geometry>
        <box size="0.02 0.013 0.118" />
      </geometry>
    </collision>
    <collision>
      <origin xyz="0.0 0.0705 -0.099" rpy="-0.0 1.57079632679 0.0" />
      <geometry>
        <box size="0.024 0.008 0.02" />
      </geometry>
    </collision>
    <collision>
      <origin xyz="0.0 -0.0705 -0.17" rpy="1.57079632679 1.57079632679 0.0" />
      <geometry>
        <cylinder radius="0.03" length="0.008" />
      </geometry>
    </collision>
    <collision>
      <origin xyz="-0.026 -0.0705 -0.11" rpy="-0.0 1.2217304764 -0.0" />
      <geometry>
        <box size="0.05 0.008 0.05" />
      </geometry>
    </collision>
    <collision>
      <origin xyz="-0.0163 -0.0705 -0.136" rpy="-0.0 1.2217304764 -0.0" />
      <geometry>
        <box size="0.06 0.008 0.05" />
      </geometry>
    </collision>
    <collision>
      <origin xyz="0.026 -0.0705 -0.11" rpy="-3.14159265359 1.2217304764 -3.14159265359" />
      <geometry>
        <box size="0.05 0.008 0.05" />
      </geometry>
    </collision>
    <collision>
      <origin xyz="0.0163 -0.0705 -0.136" rpy="-3.14159265359 1.2217304764 -3.14159265359" />
      <geometry>
        <box size="0.06 0.008 0.05" />
      </geometry>
    </collision>
    <collision>
      <origin xyz="0.0 -0.0685 -0.085" rpy="-0.0 1.57079632679 0.0" />
      <geometry>
        <box size="0.02 0.013 0.118" />
      </geometry>
    </collision>
    <collision>
      <origin xyz="0.0 -0.0705 -0.11" rpy="-0.0 1.57079632679 0.0" />
      <geometry>
        <box size="0.04 0.008 0.02" />
      </geometry>
    </collision>
    <collision>
      <origin xyz="0.0 0.085 -0.14" rpy="-0.0 1.57079632679 0.0" />
      <geometry>
        <box size="0.117 0.02 0.063" />
      </geometry>
    </collision>
  </link>
  <link name="RR_HIP_P">
    <inertial>
      <mass value="8.64" />
      <origin xyz="1e-05 -0.00091 -0.07045" rpy="0 -0 0" />
      <inertia ixx="0.08705723" ixy="-5.01e-06" ixz="6.22e-06" iyy="0.08623435" iyz="-0.00027574" izz="0.02298262" />
    </inertial>
    <visual>
      <origin xyz="0.0 0.0 0.0" rpy="0.0 -0.0 0.0" />
      <geometry>
        <mesh filename="package://aizu_spider_tnk_description/urdf/warec/warec-RR_HIP_P-visual-0.dae" scale="1.0 1.0 1.0" />
      </geometry>
    </visual>
    <collision>
      <origin xyz="0.0 0.0 -0.092" rpy="0.0 -0.0 0.0" />
      <geometry>
        <box size="0.12 0.13 0.06" />
      </geometry>
    </collision>
    <collision>
      <origin xyz="0.0 0.0815 -0.065" rpy="-0.0 1.57079632679 0.0" />
      <geometry>
        <box size="0.19 0.029 0.058" />
      </geometry>
    </collision>
    <collision>
      <origin xyz="0.0 0.0 0.0" rpy="1.57079632679 1.57079632679 0.0" />
      <geometry>
        <cylinder radius="0.061" length="0.045" />
      </geometry>
    </collision>
    <collision>
      <origin xyz="0.0 -0.038 0.0" rpy="1.57079632679 1.57079632679 0.0" />
      <geometry>
        <cylinder radius="0.078" length="0.052" />
      </geometry>
    </collision>
    <collision>
      <origin xyz="0.0 0.045 0.0" rpy="1.57079632679 1.57079632679 0.0" />
      <geometry>
        <cylinder radius="0.078" length="0.038" />
      </geometry>
    </collision>
    <collision>
      <origin xyz="0.0 0.0 -0.138" rpy="3.14159265359 -0.0 0.0" />
      <geometry>
        <cylinder radius="0.061" length="0.042" />
      </geometry>
    </collision>
    <collision>
      <origin xyz="0.0 0.0 -0.222" rpy="3.14159265359 -0.0 0.0" />
      <geometry>
        <cylinder radius="0.061" length="0.042" />
      </geometry>
    </collision>
    <collision>
      <origin xyz="0.0 0.0 -0.178" rpy="3.14159265359 -0.0 0.0" />
      <geometry>
        <cylinder radius="0.045" length="0.05" />
      </geometry>
    </collision>
  </link>
  <link name="RR_HIP_Y">
    <inertial>
      <mass value="1.72" />
      <origin xyz="0.01991 0.01113 -0.02905" rpy="0 -0 0" />
      <inertia ixx="0.00864067" ixy="0.00039402" ixz="-0.00167061" iyy="0.00652026" iyz="-0.00083341" izz="0.00534599" />
    </inertial>
    <visual>
      <origin xyz="0.0 0.0 0.0" rpy="0.0 -0.0 0.0" />
      <geometry>
        <mesh filename="package://aizu_spider_tnk_description/urdf/warec/warec-RR_HIP_Y-visual-0.dae" scale="1.0 1.0 1.0" />
      </geometry>
    </visual>
    <collision>
      <origin xyz="0.0 0.0 -0.008" rpy="1.57079632679 -0.0 -0.0" />
      <geometry>
        <box size="0.086 0.01 0.145" />
      </geometry>
    </collision>
    <collision>
      <origin xyz="0.0 0.07125 -0.024" rpy="0.0 -0.0 0.0" />
      <geometry>
        <box size="0.08 0.006 0.04" />
      </geometry>
    </collision>
    <collision>
      <origin xyz="0.001 0.07125 -0.056" rpy="-0.0 0.872664625997 -0.0" />
      <geometry>
        <box size="0.08 0.006 0.04" />
      </geometry>
    </collision>
    <collision>
      <origin xyz="0.0458 0.07125 -0.051" rpy="-0.0 0.785398163397 -0.0" />
      <geometry>
        <box size="0.057 0.006 0.04" />
      </geometry>
    </collision>
    <collision>
      <origin xyz="0.0 0.0 -0.005" rpy="3.14159265359 -0.0 0.0" />
      <geometry>
        <cylinder radius="0.04" length="0.01" />
      </geometry>
    </collision>
    <collision>
      <origin xyz="0.043 0.06825 -0.075" rpy="1.57079632679 -0.0 -0.0" />
      <geometry>
        <cylinder radius="0.041" length="0.012" />
      </geometry>
    </collision>
    <collision>
      <origin xyz="0.0 -0.07125 -0.024" rpy="0.0 -0.0 0.0" />
      <geometry>
        <box size="0.08 0.006 0.04" />
      </geometry>
    </collision>
    <collision>
      <origin xyz="0.001 -0.07125 -0.056" rpy="-0.0 0.872664625997 -0.0" />
      <geometry>
        <box size="0.08 0.006 0.04" />
      </geometry>
    </collision>
    <collision>
      <origin xyz="0.0458 -0.07125 -0.051" rpy="-0.0 0.785398163397 -0.0" />
      <geometry>
        <box size="0.057 0.006 0.04" />
      </geometry>
    </collision>
    <collision>
      <origin xyz="0.018 0.08035 -0.058" rpy="-0.0 0.767944870878 -0.0" />
      <geometry>
        <box size="0.12 0.024 0.038" />
      </geometry>
    </collision>
    <collision>
      <origin xyz="0.043 -0.07125 -0.075" rpy="1.57079632679 -0.0 -0.0" />
      <geometry>
        <cylinder radius="0.041" length="0.006" />
      </geometry>
    </collision>
  </link>
  <link name="RR_KNEE_P">
    <inertial>
      <mass value="5.72" />
      <origin xyz="-0.02128 0.00026 -0.06497" rpy="0 -0 0" />
      <inertia ixx="0.04510836" ixy="8.919e-05" ixz="0.00925738" iyy="0.04548141" iyz="0.00018274" izz="0.01605364" />
    </inertial>
    <visual>
      <origin xyz="0.0 0.0 0.0" rpy="0.0 -0.0 0.0" />
      <geometry>
        <mesh filename="package://aizu_spider_tnk_description/urdf/warec/warec-RR_KNEE_P-visual-0.dae" scale="1.0 1.0 1.0" />
      </geometry>
    </visual>
    <collision>
      <origin xyz="-0.045 0.0 -0.09" rpy="-0.0 1.57079632679 0.0" />
      <geometry>
        <box size="0.04 0.13 0.1" />
      </geometry>
    </collision>
    <collision>
      <origin xyz="-0.03 0.0 -0.04" rpy="-3.14159265359 1.308996939 -3.14159265359" />
      <geometry>
        <box size="0.068 0.13 0.081" />
      </geometry>
    </collision>
    <collision>
      <origin xyz="-0.023 -0.078 -0.036" rpy="-0.0 0.575958653158 -0.0" />
      <geometry>
        <box size="0.065 0.024 0.142" />
      </geometry>
    </collision>
    <collision>
      <origin xyz="-0.047 -0.071 -0.118" rpy="0.191986217719 -0.0 -0.0" />
      <geometry>
        <box size="0.03 0.016 0.058" />
      </geometry>
    </collision>
    <collision>
      <origin xyz="0.0 0.05 0.0" rpy="1.57079632679 -0.0 -0.0" />
      <geometry>
        <cylinder radius="0.061" length="0.03" />
      </geometry>
    </collision>
    <collision>
      <origin xyz="0.0 0.0285 0.0" rpy="1.57079632679 -0.0 -0.0" />
      <geometry>
        <cylinder radius="0.057" length="0.013" />
      </geometry>
    </collision>
    <collision>
      <origin xyz="0.0 -0.01225 0.0" rpy="1.57079632679 -0.0 -0.0" />
      <geometry>
        <cylinder radius="0.045" length="0.068" />
      </geometry>
    </collision>
    <collision>
      <origin xyz="0.0 -0.04725 0.0" rpy="1.57079632679 -0.0 -0.0" />
      <geometry>
        <cylinder radius="0.061" length="0.036" />
      </geometry>
    </collision>
    <collision>
      <origin xyz="-0.044 0.0 -0.1284" rpy="3.14159265359 -0.0 0.0" />
      <geometry>
        <cylinder radius="0.061" length="0.036" />
      </geometry>
    </collision>
    <collision>
      <origin xyz="-0.046 0.0 -0.16184" rpy="3.14159265359 -0.0 0.0" />
      <geometry>
        <cylinder radius="0.039" length="0.033" />
      </geometry>
    </collision>
    <collision>
      <origin xyz="-0.046 0.0 -0.1844" rpy="3.14159265359 -0.0 0.0" />
      <geometry>
        <cylinder radius="0.046" length="0.013" />
      </geometry>
    </collision>
    <collision>
      <origin xyz="-0.046 0.0 -0.2024" rpy="3.14159265359 -0.0 0.0" />
      <geometry>
        <cylinder radius="0.05" length="0.027" />
      </geometry>
    </collision>
  </link>
  <link name="RR_ANKLE_Y">
    <inertial>
      <mass value="1.16" />
      <origin xyz="0.0 0.00909 -0.02873" rpy="0 -0 0" />
      <inertia ixx="0.00482359" ixy="3e-08" ixz="0.0" iyy="0.0033678" iyz="-0.00044654" izz="0.00216019" />
    </inertial>
    <visual>
      <origin xyz="0.0 0.0 0.0" rpy="0.0 -0.0 0.0" />
      <geometry>
        <mesh filename="package://aizu_spider_tnk_description/urdf/warec/warec-RR_ANKLE_Y-visual-0.dae" scale="1.0 1.0 1.0" />
      </geometry>
    </visual>
    <collision>
      <origin xyz="0.0 0.0 -0.009" rpy="0.0 -0.0 0.0" />
      <geometry>
        <box size="0.09 0.13 0.007" />
      </geometry>
    </collision>
    <collision>
      <origin xyz="0.0 0.0618 -0.08" rpy="1.57079632679 1.57079632679 0.0" />
      <geometry>
        <cylinder radius="0.03" length="0.008" />
      </geometry>
    </collision>
    <collision>
      <origin xyz="-0.0097 0.0618 -0.057" rpy="-0.0 1.34390352404 -0.0" />
      <geometry>
        <box size="0.05 0.008 0.05" />
      </geometry>
    </collision>
    <collision>
      <origin xyz="0.0097 0.0618 -0.057" rpy="-3.14159265359 1.34390352404 -3.14159265359" />
      <geometry>
        <box size="0.05 0.008 0.05" />
      </geometry>
    </collision>
    <collision>
      <origin xyz="0.0 0.0618 -0.025" rpy="-0.0 1.57079632679 0.0" />
      <geometry>
        <box size="0.035 0.008 0.0797" />
      </geometry>
    </collision>
    <collision>
      <origin xyz="0.0 -0.0618 -0.08" rpy="1.57079632679 1.57079632679 0.0" />
      <geometry>
        <cylinder radius="0.03" length="0.008" />
      </geometry>
    </collision>
    <collision>
      <origin xyz="-0.0097 -0.0618 -0.057" rpy="-0.0 1.34390352404 -0.0" />
      <geometry>
        <box size="0.05 0.008 0.05" />
      </geometry>
    </collision>
    <collision>
      <origin xyz="0.0097 -0.0618 -0.057" rpy="-3.14159265359 1.34390352404 -3.14159265359" />
      <geometry>
        <box size="0.05 0.008 0.05" />
      </geometry>
    </collision>
    <collision>
      <origin xyz="0.0 -0.0618 -0.025" rpy="-0.0 1.57079632679 0.0" />
      <geometry>
        <box size="0.035 0.008 0.0797" />
      </geometry>
    </collision>
    <collision>
      <origin xyz="0.0 -0.0705 -0.08" rpy="1.57079632679 1.57079632679 0.0" />
      <geometry>
        <cylinder radius="0.02" length="0.0155" />
      </geometry>
    </collision>
    <collision>
      <origin xyz="-0.0097 -0.0705 -0.057" rpy="-0.0 1.34390352404 -0.0" />
      <geometry>
        <box size="0.04 0.0155 0.03" />
      </geometry>
    </collision>
    <collision>
      <origin xyz="0.0097 -0.0705 -0.057" rpy="-3.14159265359 1.34390352404 -3.14159265359" />
      <geometry>
        <box size="0.04 0.0155 0.03" />
      </geometry>
    </collision>
    <collision>
      <origin xyz="0.0 -0.0705 -0.029" rpy="-0.0 1.57079632679 0.0" />
      <geometry>
        <box size="0.026 0.0155 0.058" />
      </geometry>
    </collision>
  </link>
  <link name="RR_ANKLE_P">
    <inertial>
      <mass value="5.06" />
      <origin xyz="0.00215 -0.00173 -0.07672" rpy="0 -0 0" />
      <inertia ixx="0.03534024" ixy="1.143e-05" ixz="-0.00069161" iyy="0.03554489" iyz="-0.00068223" izz="0.01095641" />
    </inertial>
    <visual>
      <origin xyz="0.0 0.0 0.0" rpy="0.0 -0.0 0.0" />
      <geometry>
        <mesh filename="package://aizu_spider_tnk_description/urdf/warec/warec-RR_ANKLE_P-visual-0.dae" scale="1.0 1.0 1.0" />
      </geometry>
    </visual>
    <collision>
      <origin xyz="0.0 0.0 -0.055" rpy="-0.0 1.57079632679 0.0" />
      <geometry>
        <box size="0.04 0.117 0.11" />
      </geometry>
    </collision>
    <collision>
      <origin xyz="0.0 -0.0557 -0.02" rpy="-0.0 1.57079632679 0.0" />
      <geometry>
        <box size="0.04 0.006 0.1" />
      </geometry>
    </collision>
    <collision>
      <origin xyz="0.0 -0.068 -0.023" rpy="-0.0 1.57079632679 0.0" />
      <geometry>
        <box size="0.106 0.03 0.06" />
      </geometry>
    </collision>
    <collision>
      <origin xyz="-0.0545 0.0 -0.097" rpy="-0.0 1.57079632679 0.0" />
      <geometry>
        <box size="0.045 0.084 0.0058" />
      </geometry>
    </collision>
    <collision>
      <origin xyz="0.0545 0.0 -0.097" rpy="-0.0 1.57079632679 0.0" />
      <geometry>
        <box size="0.045 0.084 0.0058" />
      </geometry>
    </collision>
    <collision>
      <origin xyz="0.07 0.0 -0.121" rpy="-0.0 1.57079632679 0.0" />
      <geometry>
        <box size="0.124 0.058 0.024" />
      </geometry>
    </collision>
    <collision>
      <origin xyz="0.0 0.039 0.0" rpy="1.57079632679 1.57079632679 0.0" />
      <geometry>
        <cylinder radius="0.05" length="0.037" />
      </geometry>
    </collision>
    <collision>
      <origin xyz="0.0 0.005 0.0" rpy="1.57079632679 1.57079632679 0.0" />
      <geometry>
        <cylinder radius="0.038" length="0.037" />
      </geometry>
    </collision>
    <collision>
      <origin xyz="0.0 -0.036 0.0" rpy="1.57079632679 1.57079632679 0.0" />
      <geometry>
        <cylinder radius="0.061" length="0.046" />
      </geometry>
    </collision>
    <collision>
      <origin xyz="-0.0395 0.0 -0.154" rpy="1.57079632679 -3.88578058619e-16 1.57079632679" />
      <geometry>
        <cylinder radius="0.05" length="0.036" />
      </geometry>
    </collision>
    <collision>
      <origin xyz="-0.0035 0.0 -0.154" rpy="1.57079632679 -3.88578058619e-16 1.57079632679" />
      <geometry>
        <cylinder radius="0.038" length="0.036" />
      </geometry>
    </collision>
    <collision>
      <origin xyz="0.035 0.0 -0.154" rpy="1.57079632679 -3.88578058619e-16 1.57079632679" />
      <geometry>
        <cylinder radius="0.061" length="0.0454" />
      </geometry>
    </collision>
  </link>
  <link name="RR_ANKLE_R">
    <inertial>
      <mass value="0.82" />
      <origin xyz="-0.01007 0.0 -0.02816" rpy="0 -0 0" />
      <inertia ixx="0.00132859" ixy="-2.8e-07" ixz="-0.00019601" iyy="0.00261108" iyz="-1.2e-07" izz="0.00200116" />
    </inertial>
    <visual>
      <origin xyz="0.0 0.0 0.0" rpy="0.0 -0.0 0.0" />
      <geometry>
        <mesh filename="package://aizu_spider_tnk_description/urdf/warec/warec-RR_ANKLE_R-visual-0.dae" scale="1.0 1.0 1.0" />
      </geometry>
    </visual>
    <collision>
      <origin xyz="0.0 0.0 -0.07" rpy="0.0 -0.0 0.0" />
      <geometry>
        <box size="0.12 0.077 0.006" />
      </geometry>
    </collision>
    <collision>
      <origin xyz="-0.063 0.0 -0.06" rpy="-0.0 1.57079632679 0.0" />
      <geometry>
        <box size="0.024 0.08 0.0057" />
      </geometry>
    </collision>
    <collision>
      <origin xyz="-0.063 -0.0139 -0.035" rpy="1.308996939 -0.0 -0.0" />
      <geometry>
        <box size="0.0057 0.04 0.044" />
      </geometry>
    </collision>
    <collision>
      <origin xyz="-0.063 0.0155 -0.035" rpy="0.261799387799 -0.0 -0.0" />
      <geometry>
        <box size="0.0057 0.04 0.044" />
      </geometry>
    </collision>
    <collision>
      <origin xyz="-0.06 0.0 0.0" rpy="1.57079632679 -3.88578058619e-16 1.57079632679" />
      <geometry>
        <cylinder radius="0.028" length="0.012" />
      </geometry>
    </collision>
    <collision>
      <origin xyz="0.063 0.0 -0.06" rpy="-0.0 1.57079632679 0.0" />
      <geometry>
        <box size="0.024 0.08 0.0057" />
      </geometry>
    </collision>
    <collision>
      <origin xyz="0.063 -0.0139 -0.035" rpy="1.308996939 -0.0 -0.0" />
      <geometry>
        <box size="0.0057 0.04 0.044" />
      </geometry>
    </collision>
    <collision>
      <origin xyz="0.063 0.0155 -0.035" rpy="0.261799387799 -0.0 -0.0" />
      <geometry>
        <box size="0.0057 0.04 0.044" />
      </geometry>
    </collision>
    <collision>
      <origin xyz="0.063 0.0 0.0" rpy="1.57079632679 -3.88578058619e-16 1.57079632679" />
      <geometry>
        <cylinder radius="0.028" length="0.006" />
      </geometry>
    </collision>
  </link>
  <link name="RR_HOOK">
    <inertial>
      <mass value="1e-06" />
      <origin xyz="0 0 0" rpy="0 -0 0" />
      <inertia ixx="1.0" ixy="0.0" ixz="0.0" iyy="1.0" iyz="0.0" izz="1.0" />
    </inertial>
    <visual>
      <origin xyz="0.0 0.0 -0.0225" rpy="0.0 -0.0 0.0" />
      <geometry>
        <mesh filename="package://aizu_spider_tnk_description/urdf/warec/warec-RR_HOOK-visual-0.dae" scale="1.0 1.0 1.0" />
      </geometry>
    </visual>
    <collision>
      <origin xyz="0.0 0.0 0.0" rpy="3.14159265359 -0.0 0.0" />
      <geometry>
        <cylinder radius="0.05" length="0.045" />
      </geometry>
    </collision>
    <collision>
      <origin xyz="-0.0772 0.0 -0.045899999999999996" rpy="0.0 -0.0 0.0" />
      <geometry>
        <box size="0.1057 0.1 0.0126" />
      </geometry>
    </collision>
    <collision>
      <origin xyz="-0.1 0.0 -0.039099999999999996" rpy="-0.0 0.261799387799 -0.0" />
      <geometry>
        <box size="0.059 0.1 0.011" />
      </geometry>
    </collision>
    <collision>
      <origin xyz="-0.118 0.0 -0.0291" rpy="-0.0 0.785398163397 -0.0" />
      <geometry>
        <box size="0.02 0.1 0.011" />
      </geometry>
    </collision>
    <collision>
      <origin xyz="-0.1251 0.0 -0.0355" rpy="-0.0 1.57079632679 0.0" />
      <geometry>
        <box size="0.034 0.1 0.01" />
      </geometry>
    </collision>
    <collision>
      <origin xyz="0.0033 0.0 -0.0265" rpy="0.0 -0.0 0.0" />
      <geometry>
        <box size="0.143 0.1 0.0078" />
      </geometry>
    </collision>
    <collision>
      <origin xyz="-0.0414 0.0 -0.0353" rpy="0.0 -0.0 0.0" />
      <geometry>
        <box size="0.054 0.1 0.01" />
      </geometry>
    </collision>
    <collision>
      <origin xyz="-0.068 0.0 -0.0034000000000000002" rpy="-0.0 1.57079632679 0.0" />
      <geometry>
        <box size="0.042 0.1 0.0038" />
      </geometry>
    </collision>
    <collision>
      <origin xyz="-0.0705 0.0 -0.008499999999999999" rpy="-0.0 1.308996939 -0.0" />
      <geometry>
        <box size="0.042 0.1 0.007" />
      </geometry>
    </collision>
    <collision>
      <origin xyz="-0.0725 0.0 0.010800000000000004" rpy="-0.0 1.57079632679 0.0" />
      <geometry>
        <box size="0.0135 0.1 0.013" />
      </geometry>
    </collision>
    <collision>
      <origin xyz="-0.0787 0.0 0.013499999999999998" rpy="-0.0 1.57079632679 0.0" />
      <geometry>
        <box size="0.008 0.1 0.013" />
      </geometry>
    </collision>
    <collision>
      <origin xyz="-0.0772 0.0 0.008" rpy="-0.0 0.785398163397 -0.0" />
      <geometry>
        <box size="0.013 0.1 0.01" />
      </geometry>
    </collision>
    <collision>
      <origin xyz="-0.0164 0.0 -0.0373" rpy="-3.14159265359 0.785398163397 -3.14159265359" />
      <geometry>
        <box size="0.032 0.1 0.01" />
      </geometry>
    </collision>
    <collision>
      <origin xyz="0.01675 0.0 -0.0373" rpy="-0.0 0.785398163397 -0.0" />
      <geometry>
        <box size="0.032 0.1 0.01" />
      </geometry>
    </collision>
    <collision>
      <origin xyz="0.04275 0.0 -0.0373" rpy="-3.14159265359 0.785398163397 -3.14159265359" />
      <geometry>
        <box size="0.032 0.1 0.01" />
      </geometry>
    </collision>
    <collision>
      <origin xyz="0.0297 0.0 -0.0348" rpy="0.0 -0.0 0.0" />
      <geometry>
        <box size="0.027 0.1 0.017" />
      </geometry>
    </collision>
    <collision>
      <origin xyz="0.0297 0.0 -0.048600000000000004" rpy="0.0 -0.0 0.0" />
      <geometry>
        <box size="0.011 0.1 0.007" />
      </geometry>
    </collision>
    <collision>
      <origin xyz="0.0801 0.0 -0.0378" rpy="-0.0 0.785398163397 -0.0" />
      <geometry>
        <box size="0.028 0.1 0.014" />
      </geometry>
    </collision>
    <collision>
      <origin xyz="0.067 0.0 -0.028999999999999998" rpy="-0.0 0.349065850399 -0.0" />
      <geometry>
        <box size="0.013 0.1 0.008" />
      </geometry>
    </collision>
    <collision>
      <origin xyz="0.0897 0.0 -0.0475" rpy="0.0 -0.0 0.0" />
      <geometry>
        <box size="0.01 0.1 0.01" />
      </geometry>
    </collision>
  </link>
  <link name="FL_HIP_R">
    <inertial>
      <mass value="2.4001" />
      <origin xyz="-0.00771 -0.01238 0.09652" rpy="0 -0 0" />
      <inertia ixx="0.01764809" ixy="-0.00022896" ixz="0.00178956" iyy="0.01677341" iyz="-0.00202747" izz="0.00834914" />
    </inertial>
    <visual>
      <origin xyz="0.0 0.0 0.0" rpy="3.14159265359 -0.0 0.0" />
      <geometry>
        <mesh filename="package://aizu_spider_tnk_description/urdf/warec/warec-FL_HIP_R-visual-0.dae" scale="1.0 1.0000000000000004 1.0000000000000004" />
      </geometry>
    </visual>
    <collision>
      <origin xyz="-0.0705 0.0 0.0" rpy="-1.57079632679 -2.22044604925e-16 -1.57079632679" />
      <geometry>
        <cylinder radius="0.04" length="0.008" />
      </geometry>
    </collision>
    <collision>
      <origin xyz="-0.0705 0.02100000000000002 0.04400000000000001" rpy="-1.90240888467 -0.0 0.0" />
      <geometry>
        <box size="0.008 0.06 0.06" />
      </geometry>
    </collision>
    <collision>
      <origin xyz="-0.0705 -0.021000000000000005 0.04400000000000002" rpy="-1.23918376892 -0.0 0.0" />
      <geometry>
        <box size="0.008 0.06 0.06" />
      </geometry>
    </collision>
    <collision>
      <origin xyz="-0.0705 8.694992273946209e-18 0.07100000000000002" rpy="-1.57079632679 -0.0 0.0" />
      <geometry>
        <box size="0.008 0.022 0.12" />
      </geometry>
    </collision>
    <collision>
      <origin xyz="0.0 9.429780353434622e-18 0.07700000000000003" rpy="3.14159265359 -1.57079632679 0.0" />
      <geometry>
        <box size="0.01 0.125 0.14" />
      </geometry>
    </collision>
    <collision>
      <origin xyz="0.0705 0.0 0.0" rpy="-1.57079632679 -2.22044604925e-16 -1.57079632679" />
      <geometry>
        <cylinder radius="0.025" length="0.008" />
      </geometry>
    </collision>
    <collision>
      <origin xyz="0.0705 0.026000000000000016 0.04800000000000002" rpy="-2.05948851735 -0.0 0.0" />
      <geometry>
        <box size="0.008 0.05 0.05" />
      </geometry>
    </collision>
    <collision>
      <origin xyz="0.0705 0.012000000000000009 0.022000000000000006" rpy="-2.05948851735 -0.0 0.0" />
      <geometry>
        <box size="0.008 0.05 0.05" />
      </geometry>
    </collision>
    <collision>
      <origin xyz="0.0705 -0.026000000000000002 0.04800000000000003" rpy="-1.08210413624 -0.0 0.0" />
      <geometry>
        <box size="0.008 0.05 0.05" />
      </geometry>
    </collision>
    <collision>
      <origin xyz="0.0705 -0.012000000000000002 0.02200000000000001" rpy="-1.08210413624 -0.0 0.0" />
      <geometry>
        <box size="0.008 0.05 0.05" />
      </geometry>
    </collision>
    <collision>
      <origin xyz="0.0705 8.694992273946209e-18 0.07100000000000002" rpy="-1.57079632679 -0.0 0.0" />
      <geometry>
        <box size="0.008 0.024 0.123" />
      </geometry>
    </collision>
    <collision>
      <origin xyz="0.0705 6.123233995736768e-18 0.050000000000000024" rpy="-1.57079632679 -0.0 0.0" />
      <geometry>
        <box size="0.008 0.024 0.02" />
      </geometry>
    </collision>
    <collision>
      <origin xyz="0.0 -0.0705 0.1700000000000001" rpy="-1.57079632679 -1.57079632679 0.0" />
      <geometry>
        <cylinder radius="0.046" length="0.008" />
      </geometry>
    </collision>
    <collision>
      <origin xyz="-0.03 -0.07050000000000001 0.11000000000000006" rpy="3.14159265359 -1.41371669412 2.35208601817e-15" />
      <geometry>
        <box size="0.05 0.008 0.05" />
      </geometry>
    </collision>
    <collision>
      <origin xyz="-0.0263 -0.07050000000000001 0.13600000000000007" rpy="3.14159265359 -1.41371669412 2.35208601817e-15" />
      <geometry>
        <box size="0.05 0.008 0.05" />
      </geometry>
    </collision>
    <collision>
      <origin xyz="0.03 -0.07050000000000001 0.11000000000000006" rpy="-1.33524554968e-15 -1.41371669412 -3.14159265359" />
      <geometry>
        <box size="0.05 0.008 0.05" />
      </geometry>
    </collision>
    <collision>
      <origin xyz="0.0263 -0.07050000000000001 0.13600000000000007" rpy="-1.33524554968e-15 -1.41371669412 -3.14159265359" />
      <geometry>
        <box size="0.05 0.008 0.05" />
      </geometry>
    </collision>
    <collision>
      <origin xyz="0.0 -0.06850000000000002 0.08500000000000005" rpy="3.14159265359 -1.57079632679 0.0" />
      <geometry>
        <box size="0.02 0.013 0.118" />
      </geometry>
    </collision>
    <collision>
      <origin xyz="0.0 -0.07050000000000001 0.09900000000000006" rpy="3.14159265359 -1.57079632679 0.0" />
      <geometry>
        <box size="0.024 0.008 0.02" />
      </geometry>
    </collision>
    <collision>
      <origin xyz="0.0 0.07050000000000005 0.17000000000000007" rpy="-1.57079632679 -1.57079632679 0.0" />
      <geometry>
        <cylinder radius="0.03" length="0.008" />
      </geometry>
    </collision>
    <collision>
      <origin xyz="-0.026 0.07050000000000003 0.11000000000000004" rpy="3.14159265359 -1.2217304764 9.50125211727e-16" />
      <geometry>
        <box size="0.05 0.008 0.05" />
      </geometry>
    </collision>
    <collision>
      <origin xyz="-0.0163 0.07050000000000003 0.13600000000000007" rpy="3.14159265359 -1.2217304764 9.50125211727e-16" />
      <geometry>
        <box size="0.06 0.008 0.05" />
      </geometry>
    </collision>
    <collision>
      <origin xyz="0.026 0.07050000000000003 0.11000000000000004" rpy="0.0 -0.0 0.0" />
      <geometry>
        <box size="0.05 0.008 0.05" />
      </geometry>
    </collision>
    <collision>
      <origin xyz="0.0163 0.07050000000000003 0.13600000000000007" rpy="0.0 -0.0 0.0" />
      <geometry>
        <box size="0.06 0.008 0.05" />
      </geometry>
    </collision>
    <collision>
      <origin xyz="0.0 0.06850000000000005 0.08500000000000003" rpy="3.14159265359 -1.57079632679 0.0" />
      <geometry>
        <box size="0.02 0.013 0.118" />
      </geometry>
    </collision>
    <collision>
      <origin xyz="0.0 0.07050000000000003 0.11000000000000004" rpy="3.14159265359 -1.57079632679 0.0" />
      <geometry>
        <box size="0.04 0.008 0.02" />
      </geometry>
    </collision>
    <collision>
      <origin xyz="0.0 -0.08500000000000003 0.1400000000000001" rpy="3.14159265359 -1.57079632679 0.0" />
      <geometry>
        <box size="0.117 0.02 0.063" />
      </geometry>
    </collision>
  </link>
  <link name="FL_HIP_P">
    <inertial>
      <mass value="8.64" />
      <origin xyz="1e-05 0.00091 0.07045" rpy="0 -0 0" />
      <inertia ixx="0.08705723" ixy="5.01e-06" ixz="-6.22e-06" iyy="0.08623435" iyz="-0.00027574" izz="0.02298262" />
    </inertial>
    <visual>
      <origin xyz="0.0 0.0 0.0" rpy="3.14159265359 -0.0 0.0" />
      <geometry>
        <mesh filename="package://aizu_spider_tnk_description/urdf/warec/warec-FL_HIP_P-visual-0.dae" scale="1.0 1.0000000000000004 1.0000000000000004" />
      </geometry>
    </visual>
    <collision>
      <origin xyz="0.0 1.1266750552155652e-17 0.09200000000000004" rpy="3.14159265359 -0.0 0.0" />
      <geometry>
        <box size="0.12 0.13 0.06" />
      </geometry>
    </collision>
    <collision>
      <origin xyz="0.0 -0.08150000000000003 0.06500000000000004" rpy="3.14159265359 -1.57079632679 0.0" />
      <geometry>
        <box size="0.19 0.029 0.058" />
      </geometry>
    </collision>
    <collision>
      <origin xyz="0.0 0.0 0.0" rpy="-1.57079632679 -1.57079632679 0.0" />
      <geometry>
        <cylinder radius="0.061" length="0.045" />
      </geometry>
    </collision>
    <collision>
      <origin xyz="0.0 0.03800000000000001 -4.653657836759943e-18" rpy="-1.57079632679 -1.57079632679 0.0" />
      <geometry>
        <cylinder radius="0.078" length="0.052" />
      </geometry>
    </collision>
    <collision>
      <origin xyz="0.0 -0.04500000000000002 5.51091059616309e-18" rpy="-1.57079632679 -1.57079632679 0.0" />
      <geometry>
        <cylinder radius="0.078" length="0.038" />
      </geometry>
    </collision>
    <collision>
      <origin xyz="0.0 1.690012582823348e-17 0.13800000000000007" rpy="0.0 -0.0 0.0" />
      <geometry>
        <cylinder radius="0.061" length="0.042" />
      </geometry>
    </collision>
    <collision>
      <origin xyz="0.0 2.7187158941071246e-17 0.22200000000000011" rpy="0.0 -0.0 0.0" />
      <geometry>
        <cylinder radius="0.061" length="0.042" />
      </geometry>
    </collision>
    <collision>
      <origin xyz="0.0 2.179871302482289e-17 0.17800000000000007" rpy="0.0 -0.0 0.0" />
      <geometry>
        <cylinder radius="0.045" length="0.05" />
      </geometry>
    </collision>
  </link>
  <link name="FL_HIP_Y">
    <inertial>
      <mass value="1.72" />
      <origin xyz="0.01991 -0.01113 0.02905" rpy="0 -0 0" />
      <inertia ixx="0.00864067" ixy="-0.00039402" ixz="0.00167061" iyy="0.00652026" iyz="-0.00083341" izz="0.00534599" />
    </inertial>
    <visual>
      <origin xyz="0.0 0.0 0.0" rpy="3.14159265359 -0.0 0.0" />
      <geometry>
        <mesh filename="package://aizu_spider_tnk_description/urdf/warec/warec-FL_HIP_Y-visual-0.dae" scale="1.0 1.0000000000000004 1.0000000000000004" />
      </geometry>
    </visual>
    <collision>
      <origin xyz="0.0 9.797174393178827e-19 0.008000000000000004" rpy="-1.57079632679 -0.0 0.0" />
      <geometry>
        <box size="0.086 0.01 0.145" />
      </geometry>
    </collision>
    <collision>
      <origin xyz="0.0 -0.07125000000000002 0.02400000000000002" rpy="3.14159265359 -0.0 0.0" />
      <geometry>
        <box size="0.08 0.006 0.04" />
      </geometry>
    </collision>
    <collision>
      <origin xyz="0.001 -0.07125000000000002 0.056000000000000036" rpy="3.14159265359 -0.872664625997 3.72496321439e-16" />
      <geometry>
        <box size="0.08 0.006 0.04" />
      </geometry>
    </collision>
    <collision>
      <origin xyz="0.0458 -0.07125000000000002 0.05100000000000003" rpy="3.14159265359 -0.785398163397 3.06616755663e-16" />
      <geometry>
        <box size="0.057 0.006 0.04" />
      </geometry>
    </collision>
    <collision>
      <origin xyz="0.0 6.123233995736767e-19 0.005000000000000003" rpy="0.0 -0.0 0.0" />
      <geometry>
        <cylinder radius="0.04" length="0.01" />
      </geometry>
    </collision>
    <collision>
      <origin xyz="0.043 -0.06825000000000002 0.07500000000000004" rpy="-1.57079632679 -0.0 0.0" />
      <geometry>
        <cylinder radius="0.041" length="0.012" />
      </geometry>
    </collision>
    <collision>
      <origin xyz="0.0 0.07125000000000002 0.024000000000000004" rpy="3.14159265359 -0.0 0.0" />
      <geometry>
        <box size="0.08 0.006 0.04" />
      </geometry>
    </collision>
    <collision>
      <origin xyz="0.001 0.07125000000000002 0.056000000000000015" rpy="3.14159265359 -0.872664625997 3.72496321439e-16" />
      <geometry>
        <box size="0.08 0.006 0.04" />
      </geometry>
    </collision>
    <collision>
      <origin xyz="0.0458 0.07125000000000002 0.05100000000000001" rpy="3.14159265359 -0.785398163397 3.06616755663e-16" />
      <geometry>
        <box size="0.057 0.006 0.04" />
      </geometry>
    </collision>
    <collision>
      <origin xyz="0.018 -0.08035000000000003 0.05800000000000004" rpy="3.14159265359 -0.767944870878 2.95041123168e-16" />
      <geometry>
        <box size="0.12 0.024 0.038" />
      </geometry>
    </collision>
    <collision>
      <origin xyz="0.043 0.07125000000000004 0.07500000000000002" rpy="-1.57079632679 -0.0 0.0" />
      <geometry>
        <cylinder radius="0.041" length="0.006" />
      </geometry>
    </collision>
  </link>
  <link name="FL_KNEE_P">
    <inertial>
      <mass value="5.72" />
      <origin xyz="-0.02128 -0.00026 0.06497" rpy="0 -0 0" />
      <inertia ixx="0.04510836" ixy="-8.919e-05" ixz="-0.00925738" iyy="0.04548141" iyz="0.00018274" izz="0.01605364" />
    </inertial>
    <visual>
      <origin xyz="0.0 0.0 0.0" rpy="3.14159265359 -0.0 0.0" />
      <geometry>
        <mesh filename="package://aizu_spider_tnk_description/urdf/warec/warec-FL_KNEE_P-visual-0.dae" scale="1.0 1.0000000000000004 1.0000000000000004" />
      </geometry>
    </visual>
    <collision>
      <origin xyz="-0.045 1.102182119232618e-17 0.09000000000000004" rpy="3.14159265359 -1.57079632679 0.0" />
      <geometry>
        <box size="0.04 0.13 0.1" />
      </geometry>
    </collision>
    <collision>
      <origin xyz="-0.03 4.8985871965894135e-18 0.04000000000000002" rpy="0.0 -0.0 0.0" />
      <geometry>
        <box size="0.068 0.13 0.081" />
      </geometry>
    </collision>
    <collision>
      <origin xyz="-0.023 0.07800000000000003 0.036000000000000004" rpy="3.14159265359 -0.575958653158 4.14725991461e-17" />
      <geometry>
        <box size="0.065 0.024 0.142" />
      </geometry>
    </collision>
    <collision>
      <origin xyz="-0.047 0.07100000000000004 0.11800000000000004" rpy="-2.94960643587 -0.0 0.0" />
      <geometry>
        <box size="0.03 0.016 0.058" />
      </geometry>
    </collision>
    <collision>
      <origin xyz="0.0 -0.050000000000000024 6.123233995736768e-18" rpy="-1.57079632679 -0.0 0.0" />
      <geometry>
        <cylinder radius="0.061" length="0.03" />
      </geometry>
    </collision>
    <collision>
      <origin xyz="0.0 -0.028500000000000015 3.4902433775699574e-18" rpy="-1.57079632679 -0.0 0.0" />
      <geometry>
        <cylinder radius="0.057" length="0.013" />
      </geometry>
    </collision>
    <collision>
      <origin xyz="0.0 0.012250000000000006 -1.500192328955508e-18" rpy="-1.57079632679 -0.0 0.0" />
      <geometry>
        <cylinder radius="0.045" length="0.068" />
      </geometry>
    </collision>
    <collision>
      <origin xyz="0.0 0.04725000000000002 -5.786456125971245e-18" rpy="-1.57079632679 -0.0 0.0" />
      <geometry>
        <cylinder radius="0.061" length="0.036" />
      </geometry>
    </collision>
    <collision>
      <origin xyz="-0.044 1.5724464901052018e-17 0.12840000000000004" rpy="0.0 -0.0 0.0" />
      <geometry>
        <cylinder radius="0.061" length="0.036" />
      </geometry>
    </collision>
    <collision>
      <origin xyz="-0.046 1.9819683797400768e-17 0.1618400000000001" rpy="0.0 -0.0 0.0" />
      <geometry>
        <cylinder radius="0.039" length="0.033" />
      </geometry>
    </collision>
    <collision>
      <origin xyz="-0.046 2.25824869762772e-17 0.1844000000000001" rpy="0.0 -0.0 0.0" />
      <geometry>
        <cylinder radius="0.046" length="0.013" />
      </geometry>
    </collision>
    <collision>
      <origin xyz="-0.046 2.4786851214742433e-17 0.20240000000000008" rpy="0.0 -0.0 0.0" />
      <geometry>
        <cylinder radius="0.05" length="0.027" />
      </geometry>
    </collision>
  </link>
  <link name="FL_ANKLE_Y">
    <inertial>
      <mass value="1.16" />
      <origin xyz="0.0 -0.00909 0.02873" rpy="0 -0 0" />
      <inertia ixx="0.00482359" ixy="-3e-08" ixz="0.0" iyy="0.0033678" iyz="-0.00044654" izz="0.00216019" />
    </inertial>
    <visual>
      <origin xyz="0.0 0.0 0.0" rpy="3.14159265359 -0.0 0.0" />
      <geometry>
        <mesh filename="package://aizu_spider_tnk_description/urdf/warec/warec-FL_ANKLE_Y-visual-0.dae" scale="1.0 1.0000000000000004 1.0000000000000004" />
      </geometry>
    </visual>
    <collision>
      <origin xyz="0.0 1.102182119232618e-18 0.009000000000000003" rpy="3.14159265359 -0.0 0.0" />
      <geometry>
        <box size="0.09 0.13 0.007" />
      </geometry>
    </collision>
    <collision>
      <origin xyz="0.0 -0.06180000000000002 0.08000000000000004" rpy="-1.57079632679 -1.57079632679 0.0" />
      <geometry>
        <cylinder radius="0.03" length="0.008" />
      </geometry>
    </collision>
    <collision>
      <origin xyz="-0.0097 -0.06180000000000002 0.05700000000000004" rpy="3.14159265359 -1.34390352404 1.56784367982e-15" />
      <geometry>
        <box size="0.05 0.008 0.05" />
      </geometry>
    </collision>
    <collision>
      <origin xyz="0.0097 -0.06180000000000002 0.05700000000000004" rpy="0.0 -0.0 0.0" />
      <geometry>
        <box size="0.05 0.008 0.05" />
      </geometry>
    </collision>
    <collision>
      <origin xyz="0.0 -0.06180000000000003 0.02500000000000002" rpy="3.14159265359 -1.57079632679 0.0" />
      <geometry>
        <box size="0.035 0.008 0.0797" />
      </geometry>
    </collision>
    <collision>
      <origin xyz="0.0 0.061800000000000035 0.08000000000000003" rpy="-1.57079632679 -1.57079632679 0.0" />
      <geometry>
        <cylinder radius="0.03" length="0.008" />
      </geometry>
    </collision>
    <collision>
      <origin xyz="-0.0097 0.061800000000000035 0.05700000000000002" rpy="3.14159265359 -1.34390352404 1.56784367982e-15" />
      <geometry>
        <box size="0.05 0.008 0.05" />
      </geometry>
    </collision>
    <collision>
      <origin xyz="0.0097 0.061800000000000035 0.05700000000000002" rpy="0.0 -0.0 0.0" />
      <geometry>
        <box size="0.05 0.008 0.05" />
      </geometry>
    </collision>
    <collision>
      <origin xyz="0.0 0.06180000000000003 0.025000000000000005" rpy="3.14159265359 -1.57079632679 0.0" />
      <geometry>
        <box size="0.035 0.008 0.0797" />
      </geometry>
    </collision>
    <collision>
      <origin xyz="0.0 0.07050000000000003 0.08000000000000003" rpy="-1.57079632679 -1.57079632679 0.0" />
      <geometry>
        <cylinder radius="0.02" length="0.0155" />
      </geometry>
    </collision>
    <collision>
      <origin xyz="-0.0097 0.07050000000000003 0.057000000000000016" rpy="3.14159265359 -1.34390352404 1.56784367982e-15" />
      <geometry>
        <box size="0.04 0.0155 0.03" />
      </geometry>
    </collision>
    <collision>
      <origin xyz="0.0097 0.07050000000000003 0.057000000000000016" rpy="0.0 -0.0 0.0" />
      <geometry>
        <box size="0.04 0.0155 0.03" />
      </geometry>
    </collision>
    <collision>
      <origin xyz="0.0 0.07050000000000002 0.029000000000000005" rpy="3.14159265359 -1.57079632679 0.0" />
      <geometry>
        <box size="0.026 0.0155 0.058" />
      </geometry>
    </collision>
  </link>
  <link name="FL_ANKLE_P">
    <inertial>
      <mass value="5.06" />
      <origin xyz="0.00215 0.00173 0.07672" rpy="0 -0 0" />
      <inertia ixx="0.03534024" ixy="-1.143e-05" ixz="0.00069161" iyy="0.03554489" iyz="-0.00068223" izz="0.01095641" />
    </inertial>
    <visual>
      <origin xyz="0.0 0.0 0.0" rpy="3.14159265359 -0.0 0.0" />
      <geometry>
        <mesh filename="package://aizu_spider_tnk_description/urdf/warec/warec-FL_ANKLE_P-visual-0.dae" scale="1.0 1.0000000000000004 1.0000000000000004" />
      </geometry>
    </visual>
    <collision>
      <origin xyz="0.0 6.735557395310444e-18 0.05500000000000003" rpy="3.14159265359 -1.57079632679 0.0" />
      <geometry>
        <box size="0.04 0.117 0.11" />
      </geometry>
    </collision>
    <collision>
      <origin xyz="0.0 0.05570000000000003 0.020000000000000004" rpy="3.14159265359 -1.57079632679 0.0" />
      <geometry>
        <box size="0.04 0.006 0.1" />
      </geometry>
    </collision>
    <collision>
      <origin xyz="0.0 0.06800000000000003 0.023000000000000003" rpy="3.14159265359 -1.57079632679 0.0" />
      <geometry>
        <box size="0.106 0.03 0.06" />
      </geometry>
    </collision>
    <collision>
      <origin xyz="-0.0545 1.1879073951729329e-17 0.09700000000000004" rpy="3.14159265359 -1.57079632679 0.0" />
      <geometry>
        <box size="0.045 0.084 0.0058" />
      </geometry>
    </collision>
    <collision>
      <origin xyz="0.0545 1.1879073951729329e-17 0.09700000000000004" rpy="3.14159265359 -1.57079632679 0.0" />
      <geometry>
        <box size="0.045 0.084 0.0058" />
      </geometry>
    </collision>
    <collision>
      <origin xyz="0.07 1.4818226269682975e-17 0.12100000000000005" rpy="3.14159265359 -1.57079632679 0.0" />
      <geometry>
        <box size="0.124 0.058 0.024" />
      </geometry>
    </collision>
    <collision>
      <origin xyz="0.0 -0.039000000000000014 4.7761225166746785e-18" rpy="-1.57079632679 -1.57079632679 0.0" />
      <geometry>
        <cylinder radius="0.05" length="0.037" />
      </geometry>
    </collision>
    <collision>
      <origin xyz="0.0 -0.005000000000000003 6.123233995736767e-19" rpy="-1.57079632679 -1.57079632679 0.0" />
      <geometry>
        <cylinder radius="0.038" length="0.037" />
      </geometry>
    </collision>
    <collision>
      <origin xyz="0.0 0.03600000000000001 -4.408728476930472e-18" rpy="-1.57079632679 -1.57079632679 0.0" />
      <geometry>
        <cylinder radius="0.061" length="0.046" />
      </geometry>
    </collision>
    <collision>
      <origin xyz="-0.0395 1.8859560706869244e-17 0.15400000000000005" rpy="-1.57079632679 -2.22044604925e-16 -1.57079632679" />
      <geometry>
        <cylinder radius="0.05" length="0.036" />
      </geometry>
    </collision>
    <collision>
      <origin xyz="-0.0035 1.8859560706869244e-17 0.15400000000000005" rpy="-1.57079632679 -2.22044604925e-16 -1.57079632679" />
      <geometry>
        <cylinder radius="0.038" length="0.036" />
      </geometry>
    </collision>
    <collision>
      <origin xyz="0.035 1.8859560706869244e-17 0.15400000000000005" rpy="-1.57079632679 -2.22044604925e-16 -1.57079632679" />
      <geometry>
        <cylinder radius="0.061" length="0.0454" />
      </geometry>
    </collision>
  </link>
  <link name="FL_ANKLE_R">
    <inertial>
      <mass value="0.82" />
      <origin xyz="-0.01007 0.0 0.02816" rpy="0 -0 0" />
      <inertia ixx="0.00132859" ixy="2.8e-07" ixz="0.00019601" iyy="0.00261108" iyz="-1.2e-07" izz="0.00200116" />
    </inertial>
    <visual>
      <origin xyz="0.0 0.0 0.0" rpy="3.14159265359 -0.0 0.0" />
      <geometry>
        <mesh filename="package://aizu_spider_tnk_description/urdf/warec/warec-FL_ANKLE_R-visual-0.dae" scale="1.0 1.0000000000000004 1.0000000000000004" />
      </geometry>
    </visual>
    <collision>
      <origin xyz="0.0 8.572527594031475e-18 0.07000000000000003" rpy="3.14159265359 -0.0 0.0" />
      <geometry>
        <box size="0.12 0.077 0.006" />
      </geometry>
    </collision>
    <collision>
      <origin xyz="-0.063 7.34788079488412e-18 0.060000000000000026" rpy="3.14159265359 -1.57079632679 0.0" />
      <geometry>
        <box size="0.024 0.08 0.0057" />
      </geometry>
    </collision>
    <collision>
      <origin xyz="-0.063 0.01390000000000001 0.03500000000000002" rpy="-1.83259571459 -0.0 0.0" />
      <geometry>
        <box size="0.0057 0.04 0.044" />
      </geometry>
    </collision>
    <collision>
      <origin xyz="-0.063 -0.015500000000000003 0.035000000000000024" rpy="-2.87979326579 -0.0 0.0" />
      <geometry>
        <box size="0.0057 0.04 0.044" />
      </geometry>
    </collision>
    <collision>
      <origin xyz="-0.06 0.0 0.0" rpy="-1.57079632679 -2.22044604925e-16 -1.57079632679" />
      <geometry>
        <cylinder radius="0.028" length="0.012" />
      </geometry>
    </collision>
    <collision>
      <origin xyz="0.063 7.34788079488412e-18 0.060000000000000026" rpy="3.14159265359 -1.57079632679 0.0" />
      <geometry>
        <box size="0.024 0.08 0.0057" />
      </geometry>
    </collision>
    <collision>
      <origin xyz="0.063 0.01390000000000001 0.03500000000000002" rpy="-1.83259571459 -0.0 0.0" />
      <geometry>
        <box size="0.0057 0.04 0.044" />
      </geometry>
    </collision>
    <collision>
      <origin xyz="0.063 -0.015500000000000003 0.035000000000000024" rpy="-2.87979326579 -0.0 0.0" />
      <geometry>
        <box size="0.0057 0.04 0.044" />
      </geometry>
    </collision>
    <collision>
      <origin xyz="0.063 0.0 0.0" rpy="-1.57079632679 -2.22044604925e-16 -1.57079632679" />
      <geometry>
        <cylinder radius="0.028" length="0.006" />
      </geometry>
    </collision>
  </link>
  <link name="FL_HOOK">
    <inertial>
      <mass value="1e-06" />
      <origin xyz="0 0 0" rpy="0 -0 0" />
      <inertia ixx="1.0" ixy="0.0" ixz="0.0" iyy="1.0" iyz="0.0" izz="1.0" />
    </inertial>
    <visual>
      <origin xyz="0.0 0.0 0.0225" rpy="3.14159265359 -0.0 0.0" />
      <geometry>
        <mesh filename="package://aizu_spider_tnk_description/urdf/warec/warec-FL_HOOK-visual-0.dae" scale="1.0 1.0000000000000004 1.0000000000000004" />
      </geometry>
    </visual>
    <collision>
      <origin xyz="0.0 0.0 0.0" rpy="3.14159265359 -0.0 0.0" />
      <geometry>
        <cylinder radius="0.05" length="0.045" />
      </geometry>
    </collision>
    <collision>
      <origin xyz="-0.0772 2.8656735100048073e-18 0.04590000000000001" rpy="3.14159265359 -0.0 0.0" />
      <geometry>
        <box size="0.1057 0.1 0.0126" />
      </geometry>
    </collision>
    <collision>
      <origin xyz="-0.1 2.0329136865846066e-18 0.03910000000000001" rpy="3.14159265359 -0.261799387799 1.6548732745e-17" />
      <geometry>
        <box size="0.059 0.1 0.011" />
      </geometry>
    </collision>
    <collision>
      <origin xyz="-0.118 8.082668874372533e-19 0.0291" rpy="3.14159265359 -0.785398163397 3.06616755663e-16" />
      <geometry>
        <box size="0.02 0.1 0.011" />
      </geometry>
    </collision>
    <collision>
      <origin xyz="-0.1251 1.5920408388915595e-18 0.035500000000000004" rpy="3.14159265359 -1.57079632679 0.0" />
      <geometry>
        <box size="0.034 0.1 0.01" />
      </geometry>
    </collision>
    <collision>
      <origin xyz="0.0033 4.898587196589414e-19 0.026500000000000003" rpy="3.14159265359 -0.0 0.0" />
      <geometry>
        <box size="0.143 0.1 0.0078" />
      </geometry>
    </collision>
    <collision>
      <origin xyz="-0.0414 1.5675479029086126e-18 0.035300000000000005" rpy="3.14159265359 -0.0 0.0" />
      <geometry>
        <box size="0.054 0.1 0.01" />
      </geometry>
    </collision>
    <collision>
      <origin xyz="-0.068 -2.339075386371445e-18 0.0033999999999999933" rpy="3.14159265359 -1.57079632679 0.0" />
      <geometry>
        <box size="0.042 0.1 0.0038" />
      </geometry>
    </collision>
    <collision>
      <origin xyz="-0.0705 -1.714505518806295e-18 0.008499999999999992" rpy="3.14159265359 -1.308996939 2.88045933863e-16" />
      <geometry>
        <box size="0.042 0.1 0.007" />
      </geometry>
    </collision>
    <collision>
      <origin xyz="-0.0725 -4.078073841160688e-18 -0.010800000000000018" rpy="3.14159265359 -1.57079632679 0.0" />
      <geometry>
        <box size="0.0135 0.1 0.013" />
      </geometry>
    </collision>
    <collision>
      <origin xyz="-0.0787 -4.408728476930472e-18 -0.013500000000000012" rpy="3.14159265359 -1.57079632679 0.0" />
      <geometry>
        <box size="0.008 0.1 0.013" />
      </geometry>
    </collision>
    <collision>
      <origin xyz="-0.0772 -3.735172737399428e-18 -0.008000000000000014" rpy="3.14159265359 -0.785398163397 3.06616755663e-16" />
      <geometry>
        <box size="0.013 0.1 0.01" />
      </geometry>
    </collision>
    <collision>
      <origin xyz="-0.0164 1.812477262738083e-18 0.03730000000000001" rpy="0.0 -0.0 0.0" />
      <geometry>
        <box size="0.032 0.1 0.01" />
      </geometry>
    </collision>
    <collision>
      <origin xyz="0.01675 1.812477262738083e-18 0.03730000000000001" rpy="3.14159265359 -0.785398163397 3.06616755663e-16" />
      <geometry>
        <box size="0.032 0.1 0.01" />
      </geometry>
    </collision>
    <collision>
      <origin xyz="0.04275 1.812477262738083e-18 0.03730000000000001" rpy="0.0 -0.0 0.0" />
      <geometry>
        <box size="0.032 0.1 0.01" />
      </geometry>
    </collision>
    <collision>
      <origin xyz="0.0297 1.5063155629512448e-18 0.034800000000000005" rpy="3.14159265359 -0.0 0.0" />
      <geometry>
        <box size="0.027 0.1 0.017" />
      </geometry>
    </collision>
    <collision>
      <origin xyz="0.0297 3.1963281457745927e-18 0.04860000000000001" rpy="3.14159265359 -0.0 0.0" />
      <geometry>
        <box size="0.011 0.1 0.007" />
      </geometry>
    </collision>
    <collision>
      <origin xyz="0.0801 1.8737096026954506e-18 0.03780000000000001" rpy="3.14159265359 -0.785398163397 3.06616755663e-16" />
      <geometry>
        <box size="0.028 0.1 0.014" />
      </geometry>
    </collision>
    <collision>
      <origin xyz="0.067 7.960204194457797e-19 0.029" rpy="3.14159265359 -0.349065850399 2.26305581478e-17" />
      <geometry>
        <box size="0.013 0.1 0.008" />
      </geometry>
    </collision>
    <collision>
      <origin xyz="0.0897 3.061616997868384e-18 0.047500000000000014" rpy="3.14159265359 -0.0 0.0" />
      <geometry>
        <box size="0.01 0.1 0.01" />
      </geometry>
    </collision>
  </link>
  <link name="FR_HIP_R">
    <inertial>
      <mass value="2.4001" />
      <origin xyz="-0.00771 0.01238 0.09652" rpy="0 -0 0" />
      <inertia ixx="0.01764829" ixy="0.00022958" ixz="0.00178949" iyy="0.01677372" iyz="0.00202659" izz="0.00834906" />
    </inertial>
    <visual>
      <origin xyz="0.0 0.0 0.0" rpy="3.14159265359 -0.0 0.0" />
      <geometry>
        <mesh filename="package://aizu_spider_tnk_description/urdf/warec/warec-FR_HIP_R-visual-0.dae" scale="1.0 1.0000000000000004 1.0000000000000004" />
      </geometry>
    </visual>
    <collision>
      <origin xyz="-0.0705 0.0 0.0" rpy="-1.57079632679 -2.22044604925e-16 -1.57079632679" />
      <geometry>
        <cylinder radius="0.04" length="0.008" />
      </geometry>
    </collision>
    <collision>
      <origin xyz="-0.0705 0.02100000000000002 0.04400000000000001" rpy="-1.90240888467 -0.0 0.0" />
      <geometry>
        <box size="0.008 0.06 0.06" />
      </geometry>
    </collision>
    <collision>
      <origin xyz="-0.0705 -0.021000000000000005 0.04400000000000002" rpy="-1.23918376892 -0.0 0.0" />
      <geometry>
        <box size="0.008 0.06 0.06" />
      </geometry>
    </collision>
    <collision>
      <origin xyz="-0.0705 8.694992273946209e-18 0.07100000000000002" rpy="-1.57079632679 -0.0 0.0" />
      <geometry>
        <box size="0.008 0.022 0.12" />
      </geometry>
    </collision>
    <collision>
      <origin xyz="0.0 9.429780353434622e-18 0.07700000000000003" rpy="3.14159265359 -1.57079632679 0.0" />
      <geometry>
        <box size="0.01 0.125 0.14" />
      </geometry>
    </collision>
    <collision>
      <origin xyz="0.0705 0.0 0.0" rpy="-1.57079632679 -2.22044604925e-16 -1.57079632679" />
      <geometry>
        <cylinder radius="0.025" length="0.008" />
      </geometry>
    </collision>
    <collision>
      <origin xyz="0.0705 0.026000000000000016 0.04800000000000002" rpy="-2.05948851735 -0.0 0.0" />
      <geometry>
        <box size="0.008 0.05 0.05" />
      </geometry>
    </collision>
    <collision>
      <origin xyz="0.0705 0.012000000000000009 0.022000000000000006" rpy="-2.05948851735 -0.0 0.0" />
      <geometry>
        <box size="0.008 0.05 0.05" />
      </geometry>
    </collision>
    <collision>
      <origin xyz="0.0705 -0.026000000000000002 0.04800000000000003" rpy="-1.08210413624 -0.0 0.0" />
      <geometry>
        <box size="0.008 0.05 0.05" />
      </geometry>
    </collision>
    <collision>
      <origin xyz="0.0705 -0.012000000000000002 0.02200000000000001" rpy="-1.08210413624 -0.0 0.0" />
      <geometry>
        <box size="0.008 0.05 0.05" />
      </geometry>
    </collision>
    <collision>
      <origin xyz="0.0705 8.694992273946209e-18 0.07100000000000002" rpy="-1.57079632679 -0.0 0.0" />
      <geometry>
        <box size="0.008 0.024 0.123" />
      </geometry>
    </collision>
    <collision>
      <origin xyz="0.0705 6.123233995736768e-18 0.050000000000000024" rpy="-1.57079632679 -0.0 0.0" />
      <geometry>
        <box size="0.008 0.024 0.02" />
      </geometry>
    </collision>
    <collision>
      <origin xyz="0.0 -0.0705 0.1700000000000001" rpy="-1.57079632679 -1.57079632679 0.0" />
      <geometry>
        <cylinder radius="0.03" length="0.008" />
      </geometry>
    </collision>
    <collision>
      <origin xyz="-0.026 -0.07050000000000001 0.11000000000000006" rpy="3.14159265359 -1.2217304764 9.50125211727e-16" />
      <geometry>
        <box size="0.05 0.008 0.05" />
      </geometry>
    </collision>
    <collision>
      <origin xyz="-0.0163 -0.07050000000000001 0.13600000000000007" rpy="3.14159265359 -1.2217304764 9.50125211727e-16" />
      <geometry>
        <box size="0.05 0.008 0.05" />
      </geometry>
    </collision>
    <collision>
      <origin xyz="0.026 -0.07050000000000001 0.11000000000000006" rpy="0.0 -0.0 0.0" />
      <geometry>
        <box size="0.05 0.008 0.05" />
      </geometry>
    </collision>
    <collision>
      <origin xyz="0.0163 -0.07050000000000001 0.13600000000000007" rpy="0.0 -0.0 0.0" />
      <geometry>
        <box size="0.05 0.008 0.05" />
      </geometry>
    </collision>
    <collision>
      <origin xyz="0.0 -0.06850000000000002 0.08500000000000005" rpy="3.14159265359 -1.57079632679 0.0" />
      <geometry>
        <box size="0.02 0.013 0.118" />
      </geometry>
    </collision>
    <collision>
      <origin xyz="0.0 -0.07050000000000001 0.09900000000000006" rpy="3.14159265359 -1.57079632679 0.0" />
      <geometry>
        <box size="0.024 0.008 0.02" />
      </geometry>
    </collision>
    <collision>
      <origin xyz="0.0 0.07050000000000005 0.17000000000000007" rpy="-1.57079632679 -1.57079632679 0.0" />
      <geometry>
        <cylinder radius="0.046" length="0.008" />
      </geometry>
    </collision>
    <collision>
      <origin xyz="-0.03 0.07050000000000003 0.11000000000000004" rpy="3.14159265359 -1.41371669412 2.35208601817e-15" />
      <geometry>
        <box size="0.05 0.008 0.05" />
      </geometry>
    </collision>
    <collision>
      <origin xyz="-0.0263 0.07050000000000003 0.13600000000000007" rpy="3.14159265359 -1.41371669412 2.35208601817e-15" />
      <geometry>
        <box size="0.06 0.008 0.05" />
      </geometry>
    </collision>
    <collision>
      <origin xyz="0.03 0.07050000000000003 0.11000000000000004" rpy="-1.33524554968e-15 -1.41371669412 -3.14159265359" />
      <geometry>
        <box size="0.05 0.008 0.05" />
      </geometry>
    </collision>
    <collision>
      <origin xyz="0.0263 0.07050000000000003 0.13600000000000007" rpy="-1.33524554968e-15 -1.41371669412 -3.14159265359" />
      <geometry>
        <box size="0.06 0.008 0.05" />
      </geometry>
    </collision>
    <collision>
      <origin xyz="0.0 0.06850000000000005 0.08500000000000003" rpy="3.14159265359 -1.57079632679 0.0" />
      <geometry>
        <box size="0.02 0.013 0.118" />
      </geometry>
    </collision>
    <collision>
      <origin xyz="0.0 0.07050000000000003 0.11000000000000004" rpy="3.14159265359 -1.57079632679 0.0" />
      <geometry>
        <box size="0.04 0.008 0.02" />
      </geometry>
    </collision>
    <collision>
      <origin xyz="0.0 0.08500000000000006 0.14000000000000007" rpy="3.14159265359 -1.57079632679 0.0" />
      <geometry>
        <box size="0.117 0.02 0.063" />
      </geometry>
    </collision>
  </link>
  <link name="FR_HIP_P">
    <inertial>
      <mass value="8.64" />
      <origin xyz="-1e-05 -0.00091 0.07045" rpy="0 -0 0" />
      <inertia ixx="0.08705723" ixy="5.01e-06" ixz="6.22e-06" iyy="0.08623435" iyz="0.00027574" izz="0.02298262" />
    </inertial>
    <visual>
      <origin xyz="0.0 0.0 0.0" rpy="3.14159265359 -0.0 0.0" />
      <geometry>
        <mesh filename="package://aizu_spider_tnk_description/urdf/warec/warec-FR_HIP_P-visual-0.dae" scale="1.0 1.0000000000000004 1.0000000000000004" />
      </geometry>
    </visual>
    <collision>
      <origin xyz="0.0 1.1266750552155652e-17 0.09200000000000004" rpy="3.14159265359 -0.0 0.0" />
      <geometry>
        <box size="0.12 0.13 0.06" />
      </geometry>
    </collision>
    <collision>
      <origin xyz="0.0 -0.08150000000000003 0.06500000000000004" rpy="3.14159265359 -1.57079632679 0.0" />
      <geometry>
        <box size="0.19 0.029 0.058" />
      </geometry>
    </collision>
    <collision>
      <origin xyz="0.0 0.0 0.0" rpy="-1.57079632679 -1.57079632679 0.0" />
      <geometry>
        <cylinder radius="0.061" length="0.045" />
      </geometry>
    </collision>
    <collision>
      <origin xyz="0.0 0.03800000000000001 -4.653657836759943e-18" rpy="-1.57079632679 -1.57079632679 0.0" />
      <geometry>
        <cylinder radius="0.078" length="0.052" />
      </geometry>
    </collision>
    <collision>
      <origin xyz="0.0 -0.04500000000000002 5.51091059616309e-18" rpy="-1.57079632679 -1.57079632679 0.0" />
      <geometry>
        <cylinder radius="0.078" length="0.038" />
      </geometry>
    </collision>
    <collision>
      <origin xyz="0.0 1.690012582823348e-17 0.13800000000000007" rpy="0.0 -0.0 0.0" />
      <geometry>
        <cylinder radius="0.061" length="0.042" />
      </geometry>
    </collision>
    <collision>
      <origin xyz="0.0 2.7187158941071246e-17 0.22200000000000011" rpy="0.0 -0.0 0.0" />
      <geometry>
        <cylinder radius="0.061" length="0.042" />
      </geometry>
    </collision>
    <collision>
      <origin xyz="0.0 2.179871302482289e-17 0.17800000000000007" rpy="0.0 -0.0 0.0" />
      <geometry>
        <cylinder radius="0.045" length="0.05" />
      </geometry>
    </collision>
  </link>
  <link name="FR_HIP_Y">
    <inertial>
      <mass value="1.72" />
      <origin xyz="0.0199 0.01113 0.02905" rpy="0 -0 0" />
      <inertia ixx="0.00864071" ixy="0.00039465" ixz="0.00167025" iyy="0.00651989" iyz="0.00083342" izz="0.00534558" />
    </inertial>
    <visual>
      <origin xyz="0.0 0.0 0.0" rpy="3.14159265359 -0.0 0.0" />
      <geometry>
        <mesh filename="package://aizu_spider_tnk_description/urdf/warec/warec-FR_HIP_Y-visual-0.dae" scale="1.0 1.0000000000000004 1.0000000000000004" />
      </geometry>
    </visual>
    <collision>
      <origin xyz="0.0 9.797174393178827e-19 0.008000000000000004" rpy="-1.57079632679 -0.0 0.0" />
      <geometry>
        <box size="0.086 0.01 0.145" />
      </geometry>
    </collision>
    <collision>
      <origin xyz="0.0 -0.07125000000000002 0.02400000000000002" rpy="3.14159265359 -0.0 0.0" />
      <geometry>
        <box size="0.08 0.006 0.04" />
      </geometry>
    </collision>
    <collision>
      <origin xyz="0.001 -0.07125000000000002 0.056000000000000036" rpy="3.14159265359 -0.872664625997 3.72496321439e-16" />
      <geometry>
        <box size="0.08 0.006 0.04" />
      </geometry>
    </collision>
    <collision>
      <origin xyz="0.0458 -0.07125000000000002 0.05100000000000003" rpy="3.14159265359 -0.785398163397 3.06616755663e-16" />
      <geometry>
        <box size="0.057 0.006 0.04" />
      </geometry>
    </collision>
    <collision>
      <origin xyz="0.0 6.123233995736767e-19 0.005000000000000003" rpy="0.0 -0.0 0.0" />
      <geometry>
        <cylinder radius="0.04" length="0.01" />
      </geometry>
    </collision>
    <collision>
      <origin xyz="0.043 -0.07125000000000001 0.07500000000000004" rpy="-1.57079632679 -0.0 0.0" />
      <geometry>
        <cylinder radius="0.041" length="0.006" />
      </geometry>
    </collision>
    <collision>
      <origin xyz="0.0 0.07125000000000002 0.024000000000000004" rpy="3.14159265359 -0.0 0.0" />
      <geometry>
        <box size="0.08 0.006 0.04" />
      </geometry>
    </collision>
    <collision>
      <origin xyz="0.001 0.07125000000000002 0.056000000000000015" rpy="3.14159265359 -0.872664625997 3.72496321439e-16" />
      <geometry>
        <box size="0.08 0.006 0.04" />
      </geometry>
    </collision>
    <collision>
      <origin xyz="0.0458 0.07125000000000002 0.05100000000000001" rpy="3.14159265359 -0.785398163397 3.06616755663e-16" />
      <geometry>
        <box size="0.057 0.006 0.04" />
      </geometry>
    </collision>
    <collision>
      <origin xyz="0.018 0.08035000000000006 0.05800000000000002" rpy="3.14159265359 -0.767944870878 2.95041123168e-16" />
      <geometry>
        <box size="0.12 0.024 0.038" />
      </geometry>
    </collision>
    <collision>
      <origin xyz="0.043 0.06825000000000005 0.07500000000000002" rpy="-1.57079632679 -0.0 0.0" />
      <geometry>
        <cylinder radius="0.041" length="0.012" />
      </geometry>
    </collision>
  </link>
  <link name="FR_KNEE_P">
    <inertial>
      <mass value="5.72" />
      <origin xyz="-0.02134 0.00027 0.06496" rpy="0 -0 0" />
      <inertia ixx="0.04513699" ixy="9.396e-05" ixz="-0.00925777" iyy="0.04550396" iyz="-0.00017902" izz="0.01607654" />
    </inertial>
    <visual>
      <origin xyz="0.0 0.0 0.0" rpy="3.14159265359 -0.0 0.0" />
      <geometry>
        <mesh filename="package://aizu_spider_tnk_description/urdf/warec/warec-FR_KNEE_P-visual-0.dae" scale="1.0 1.0000000000000004 1.0000000000000004" />
      </geometry>
    </visual>
    <collision>
      <origin xyz="-0.045 1.102182119232618e-17 0.09000000000000004" rpy="3.14159265359 -1.57079632679 0.0" />
      <geometry>
        <box size="0.04 0.13 0.1" />
      </geometry>
    </collision>
    <collision>
      <origin xyz="-0.03 4.8985871965894135e-18 0.04000000000000002" rpy="0.0 -0.0 0.0" />
      <geometry>
        <box size="0.068 0.13 0.081" />
      </geometry>
    </collision>
    <collision>
      <origin xyz="-0.023 -0.07800000000000003 0.036000000000000025" rpy="3.14159265359 -0.575958653158 4.14725991461e-17" />
      <geometry>
        <box size="0.065 0.024 0.142" />
      </geometry>
    </collision>
    <collision>
      <origin xyz="-0.047 -0.07100000000000001 0.11800000000000005" rpy="2.94960643587 -0.0 -0.0" />
      <geometry>
        <box size="0.03 0.016 0.058" />
      </geometry>
    </collision>
    <collision>
      <origin xyz="0.0 0.050250000000000024 -6.153850165715452e-18" rpy="-1.57079632679 -0.0 0.0" />
      <geometry>
        <cylinder radius="0.061" length="0.03" />
      </geometry>
    </collision>
    <collision>
      <origin xyz="0.0 0.029250000000000016 -3.5820918875060094e-18" rpy="-1.57079632679 -0.0 0.0" />
      <geometry>
        <cylinder radius="0.057" length="0.013" />
      </geometry>
    </collision>
    <collision>
      <origin xyz="0.0 0.004000000000000002 -4.898587196589414e-19" rpy="-1.57079632679 -0.0 0.0" />
      <geometry>
        <cylinder radius="0.045" length="0.068" />
      </geometry>
    </collision>
    <collision>
      <origin xyz="0.0 -0.04800000000000002 5.878304635907297e-18" rpy="-1.57079632679 -0.0 0.0" />
      <geometry>
        <cylinder radius="0.061" length="0.036" />
      </geometry>
    </collision>
    <collision>
      <origin xyz="-0.044 1.5724464901052018e-17 0.12840000000000004" rpy="0.0 -0.0 0.0" />
      <geometry>
        <cylinder radius="0.061" length="0.036" />
      </geometry>
    </collision>
    <collision>
      <origin xyz="-0.046 1.9819683797400768e-17 0.1618400000000001" rpy="0.0 -0.0 0.0" />
      <geometry>
        <cylinder radius="0.039" length="0.033" />
      </geometry>
    </collision>
    <collision>
      <origin xyz="-0.046 2.25824869762772e-17 0.1844000000000001" rpy="0.0 -0.0 0.0" />
      <geometry>
        <cylinder radius="0.046" length="0.013" />
      </geometry>
    </collision>
    <collision>
      <origin xyz="-0.046 2.4786851214742433e-17 0.20240000000000008" rpy="0.0 -0.0 0.0" />
      <geometry>
        <cylinder radius="0.05" length="0.027" />
      </geometry>
    </collision>
  </link>
  <link name="FR_ANKLE_Y">
    <inertial>
      <mass value="1.16" />
      <origin xyz="0.0 0.00909 0.02873" rpy="0 -0 0" />
      <inertia ixx="0.00482359" ixy="-3e-08" ixz="0.0" iyy="0.0033678" iyz="0.00044654" izz="0.00216019" />
    </inertial>
    <visual>
      <origin xyz="0.0 0.0 0.0" rpy="3.14159265359 -0.0 0.0" />
      <geometry>
        <mesh filename="package://aizu_spider_tnk_description/urdf/warec/warec-FR_ANKLE_Y-visual-0.dae" scale="1.0 1.0000000000000004 1.0000000000000004" />
      </geometry>
    </visual>
    <collision>
      <origin xyz="0.0 1.102182119232618e-18 0.009000000000000003" rpy="3.14159265359 -0.0 0.0" />
      <geometry>
        <box size="0.09 0.13 0.007" />
      </geometry>
    </collision>
    <collision>
      <origin xyz="0.0 -0.06180000000000002 0.08000000000000004" rpy="-1.57079632679 -1.57079632679 0.0" />
      <geometry>
        <cylinder radius="0.03" length="0.008" />
      </geometry>
    </collision>
    <collision>
      <origin xyz="-0.0097 -0.06180000000000002 0.05700000000000004" rpy="3.14159265359 -1.34390352404 1.56784367982e-15" />
      <geometry>
        <box size="0.05 0.008 0.05" />
      </geometry>
    </collision>
    <collision>
      <origin xyz="0.0097 -0.06180000000000002 0.05700000000000004" rpy="0.0 -0.0 0.0" />
      <geometry>
        <box size="0.05 0.008 0.05" />
      </geometry>
    </collision>
    <collision>
      <origin xyz="0.0 -0.06180000000000003 0.02500000000000002" rpy="3.14159265359 -1.57079632679 0.0" />
      <geometry>
        <box size="0.035 0.008 0.0797" />
      </geometry>
    </collision>
    <collision>
      <origin xyz="0.0 0.061800000000000035 0.08000000000000003" rpy="-1.57079632679 -1.57079632679 0.0" />
      <geometry>
        <cylinder radius="0.03" length="0.008" />
      </geometry>
    </collision>
    <collision>
      <origin xyz="-0.0097 0.061800000000000035 0.05700000000000002" rpy="3.14159265359 -1.34390352404 1.56784367982e-15" />
      <geometry>
        <box size="0.05 0.008 0.05" />
      </geometry>
    </collision>
    <collision>
      <origin xyz="0.0097 0.061800000000000035 0.05700000000000002" rpy="0.0 -0.0 0.0" />
      <geometry>
        <box size="0.05 0.008 0.05" />
      </geometry>
    </collision>
    <collision>
      <origin xyz="0.0 0.06180000000000003 0.025000000000000005" rpy="3.14159265359 -1.57079632679 0.0" />
      <geometry>
        <box size="0.035 0.008 0.0797" />
      </geometry>
    </collision>
    <collision>
      <origin xyz="0.0 0.07050000000000003 0.08000000000000003" rpy="-1.57079632679 -1.57079632679 0.0" />
      <geometry>
        <cylinder radius="0.02" length="0.0155" />
      </geometry>
    </collision>
    <collision>
      <origin xyz="-0.0097 0.07050000000000003 0.057000000000000016" rpy="3.14159265359 -1.34390352404 1.56784367982e-15" />
      <geometry>
        <box size="0.04 0.0155 0.03" />
      </geometry>
    </collision>
    <collision>
      <origin xyz="0.0097 0.07050000000000003 0.057000000000000016" rpy="0.0 -0.0 0.0" />
      <geometry>
        <box size="0.04 0.0155 0.03" />
      </geometry>
    </collision>
    <collision>
      <origin xyz="0.0 0.07050000000000002 0.029000000000000005" rpy="3.14159265359 -1.57079632679 0.0" />
      <geometry>
        <box size="0.026 0.0155 0.058" />
      </geometry>
    </collision>
  </link>
  <link name="FR_ANKLE_P">
    <inertial>
      <mass value="5.06" />
      <origin xyz="0.00215 -0.0017 0.07672" rpy="0 -0 0" />
      <inertia ixx="0.03534068" ixy="2.587e-05" ixz="0.00070201" iyy="0.0355447" iyz="0.00069448" izz="0.01095592" />
    </inertial>
    <visual>
      <origin xyz="0.0 0.0 0.0" rpy="3.14159265359 -0.0 0.0" />
      <geometry>
        <mesh filename="package://aizu_spider_tnk_description/urdf/warec/warec-FR_ANKLE_P-visual-0.dae" scale="1.0 1.0000000000000004 1.0000000000000004" />
      </geometry>
    </visual>
    <collision>
      <origin xyz="0.0 6.735557395310444e-18 0.05500000000000003" rpy="3.14159265359 -1.57079632679 0.0" />
      <geometry>
        <box size="0.04 0.117 0.11" />
      </geometry>
    </collision>
    <collision>
      <origin xyz="0.0 0.05570000000000003 0.020000000000000004" rpy="3.14159265359 -1.57079632679 0.0" />
      <geometry>
        <box size="0.04 0.006 0.1" />
      </geometry>
    </collision>
    <collision>
      <origin xyz="0.0 -0.06800000000000003 0.02700000000000002" rpy="3.14159265359 -1.57079632679 0.0" />
      <geometry>
        <box size="0.1 0.03 0.06" />
      </geometry>
    </collision>
    <collision>
      <origin xyz="-0.0545 1.1879073951729329e-17 0.09700000000000004" rpy="3.14159265359 -1.57079632679 0.0" />
      <geometry>
        <box size="0.045 0.084 0.0058" />
      </geometry>
    </collision>
    <collision>
      <origin xyz="0.0545 1.1879073951729329e-17 0.09700000000000004" rpy="3.14159265359 -1.57079632679 0.0" />
      <geometry>
        <box size="0.045 0.084 0.0058" />
      </geometry>
    </collision>
    <collision>
      <origin xyz="0.07 1.4818226269682975e-17 0.12100000000000005" rpy="3.14159265359 -1.57079632679 0.0" />
      <geometry>
        <box size="0.124 0.058 0.024" />
      </geometry>
    </collision>
    <collision>
      <origin xyz="0.0 0.04020000000000002 -4.923080132572361e-18" rpy="-1.57079632679 -1.57079632679 0.0" />
      <geometry>
        <cylinder radius="0.05" length="0.037" />
      </geometry>
    </collision>
    <collision>
      <origin xyz="0.0 0.0025000000000000014 -3.0616169978683835e-19" rpy="-1.57079632679 -1.57079632679 0.0" />
      <geometry>
        <cylinder radius="0.038" length="0.037" />
      </geometry>
    </collision>
    <collision>
      <origin xyz="0.0 -0.03500000000000002 4.2862637970157375e-18" rpy="-1.57079632679 -1.57079632679 0.0" />
      <geometry>
        <cylinder radius="0.061" length="0.046" />
      </geometry>
    </collision>
    <collision>
      <origin xyz="-0.0395 1.8859560706869244e-17 0.15400000000000005" rpy="-1.57079632679 -2.22044604925e-16 -1.57079632679" />
      <geometry>
        <cylinder radius="0.05" length="0.036" />
      </geometry>
    </collision>
    <collision>
      <origin xyz="-0.0035 1.8859560706869244e-17 0.15400000000000005" rpy="-1.57079632679 -2.22044604925e-16 -1.57079632679" />
      <geometry>
        <cylinder radius="0.038" length="0.036" />
      </geometry>
    </collision>
    <collision>
      <origin xyz="0.035 1.8859560706869244e-17 0.15400000000000005" rpy="-1.57079632679 -2.22044604925e-16 -1.57079632679" />
      <geometry>
        <cylinder radius="0.061" length="0.0454" />
      </geometry>
    </collision>
  </link>
  <link name="FR_ANKLE_R">
    <inertial>
      <mass value="0.82" />
      <origin xyz="-0.01007 0.0 0.02816" rpy="0 -0 0" />
      <inertia ixx="0.00132859" ixy="2.8e-07" ixz="0.00019601" iyy="0.00261108" iyz="-1.2e-07" izz="0.00200116" />
    </inertial>
    <visual>
      <origin xyz="0.0 0.0 0.0" rpy="3.14159265359 -0.0 0.0" />
      <geometry>
        <mesh filename="package://aizu_spider_tnk_description/urdf/warec/warec-FR_ANKLE_R-visual-0.dae" scale="1.0 1.0000000000000004 1.0000000000000004" />
      </geometry>
    </visual>
    <collision>
      <origin xyz="0.0 8.572527594031475e-18 0.07000000000000003" rpy="3.14159265359 -0.0 0.0" />
      <geometry>
        <box size="0.12 0.077 0.006" />
      </geometry>
    </collision>
    <collision>
      <origin xyz="-0.063 7.34788079488412e-18 0.060000000000000026" rpy="3.14159265359 -1.57079632679 0.0" />
      <geometry>
        <box size="0.024 0.08 0.0057" />
      </geometry>
    </collision>
    <collision>
      <origin xyz="-0.063 0.01390000000000001 0.03500000000000002" rpy="-1.83259571459 -0.0 0.0" />
      <geometry>
        <box size="0.0057 0.04 0.044" />
      </geometry>
    </collision>
    <collision>
      <origin xyz="-0.063 -0.015500000000000003 0.035000000000000024" rpy="-2.87979326579 -0.0 0.0" />
      <geometry>
        <box size="0.0057 0.04 0.044" />
      </geometry>
    </collision>
    <collision>
      <origin xyz="-0.06 0.0 0.0" rpy="-1.57079632679 -2.22044604925e-16 -1.57079632679" />
      <geometry>
        <cylinder radius="0.028" length="0.012" />
      </geometry>
    </collision>
    <collision>
      <origin xyz="0.063 7.34788079488412e-18 0.060000000000000026" rpy="3.14159265359 -1.57079632679 0.0" />
      <geometry>
        <box size="0.024 0.08 0.0057" />
      </geometry>
    </collision>
    <collision>
      <origin xyz="0.063 0.01390000000000001 0.03500000000000002" rpy="-1.83259571459 -0.0 0.0" />
      <geometry>
        <box size="0.0057 0.04 0.044" />
      </geometry>
    </collision>
    <collision>
      <origin xyz="0.063 -0.015500000000000003 0.035000000000000024" rpy="-2.87979326579 -0.0 0.0" />
      <geometry>
        <box size="0.0057 0.04 0.044" />
      </geometry>
    </collision>
    <collision>
      <origin xyz="0.063 0.0 0.0" rpy="-1.57079632679 -2.22044604925e-16 -1.57079632679" />
      <geometry>
        <cylinder radius="0.028" length="0.006" />
      </geometry>
    </collision>
  </link>
  <link name="FR_HOOK">
    <inertial>
      <mass value="1e-06" />
      <origin xyz="0 0 0" rpy="0 -0 0" />
      <inertia ixx="1.0" ixy="0.0" ixz="0.0" iyy="1.0" iyz="0.0" izz="1.0" />
    </inertial>
    <visual>
      <origin xyz="0.0 0.0 0.0225" rpy="3.14159265359 -0.0 0.0" />
      <geometry>
        <mesh filename="package://aizu_spider_tnk_description/urdf/warec/warec-FR_HOOK-visual-0.dae" scale="1.0 1.0000000000000004 1.0000000000000004" />
      </geometry>
    </visual>
    <collision>
      <origin xyz="0.0 0.0 0.0" rpy="3.14159265359 -0.0 0.0" />
      <geometry>
        <cylinder radius="0.05" length="0.045" />
      </geometry>
    </collision>
    <collision>
      <origin xyz="-0.0772 2.8656735100048073e-18 0.04590000000000001" rpy="3.14159265359 -0.0 0.0" />
      <geometry>
        <box size="0.1057 0.1 0.0126" />
      </geometry>
    </collision>
    <collision>
      <origin xyz="-0.1 2.0329136865846066e-18 0.03910000000000001" rpy="3.14159265359 -0.261799387799 1.6548732745e-17" />
      <geometry>
        <box size="0.059 0.1 0.011" />
      </geometry>
    </collision>
    <collision>
      <origin xyz="-0.118 8.082668874372533e-19 0.0291" rpy="3.14159265359 -0.785398163397 3.06616755663e-16" />
      <geometry>
        <box size="0.02 0.1 0.011" />
      </geometry>
    </collision>
    <collision>
      <origin xyz="-0.1251 1.5920408388915595e-18 0.035500000000000004" rpy="3.14159265359 -1.57079632679 0.0" />
      <geometry>
        <box size="0.034 0.1 0.01" />
      </geometry>
    </collision>
    <collision>
      <origin xyz="0.0033 4.898587196589414e-19 0.026500000000000003" rpy="3.14159265359 -0.0 0.0" />
      <geometry>
        <box size="0.143 0.1 0.0078" />
      </geometry>
    </collision>
    <collision>
      <origin xyz="-0.0414 1.5675479029086126e-18 0.035300000000000005" rpy="3.14159265359 -0.0 0.0" />
      <geometry>
        <box size="0.054 0.1 0.01" />
      </geometry>
    </collision>
    <collision>
      <origin xyz="-0.068 -2.339075386371445e-18 0.0033999999999999933" rpy="3.14159265359 -1.57079632679 0.0" />
      <geometry>
        <box size="0.042 0.1 0.0038" />
      </geometry>
    </collision>
    <collision>
      <origin xyz="-0.0705 -1.714505518806295e-18 0.008499999999999992" rpy="3.14159265359 -1.308996939 2.88045933863e-16" />
      <geometry>
        <box size="0.042 0.1 0.007" />
      </geometry>
    </collision>
    <collision>
      <origin xyz="-0.0725 -4.078073841160688e-18 -0.010800000000000018" rpy="3.14159265359 -1.57079632679 0.0" />
      <geometry>
        <box size="0.0135 0.1 0.013" />
      </geometry>
    </collision>
    <collision>
      <origin xyz="-0.0787 -4.408728476930472e-18 -0.013500000000000012" rpy="3.14159265359 -1.57079632679 0.0" />
      <geometry>
        <box size="0.008 0.1 0.013" />
      </geometry>
    </collision>
    <collision>
      <origin xyz="-0.0772 -3.735172737399428e-18 -0.008000000000000014" rpy="3.14159265359 -0.785398163397 3.06616755663e-16" />
      <geometry>
        <box size="0.013 0.1 0.01" />
      </geometry>
    </collision>
    <collision>
      <origin xyz="-0.0164 1.812477262738083e-18 0.03730000000000001" rpy="0.0 -0.0 0.0" />
      <geometry>
        <box size="0.032 0.1 0.01" />
      </geometry>
    </collision>
    <collision>
      <origin xyz="0.01675 1.812477262738083e-18 0.03730000000000001" rpy="3.14159265359 -0.785398163397 3.06616755663e-16" />
      <geometry>
        <box size="0.032 0.1 0.01" />
      </geometry>
    </collision>
    <collision>
      <origin xyz="0.04275 1.812477262738083e-18 0.03730000000000001" rpy="0.0 -0.0 0.0" />
      <geometry>
        <box size="0.032 0.1 0.01" />
      </geometry>
    </collision>
    <collision>
      <origin xyz="0.0297 1.5063155629512448e-18 0.034800000000000005" rpy="3.14159265359 -0.0 0.0" />
      <geometry>
        <box size="0.027 0.1 0.017" />
      </geometry>
    </collision>
    <collision>
      <origin xyz="0.0297 3.1963281457745927e-18 0.04860000000000001" rpy="3.14159265359 -0.0 0.0" />
      <geometry>
        <box size="0.011 0.1 0.007" />
      </geometry>
    </collision>
    <collision>
      <origin xyz="0.0801 1.8737096026954506e-18 0.03780000000000001" rpy="3.14159265359 -0.785398163397 3.06616755663e-16" />
      <geometry>
        <box size="0.028 0.1 0.014" />
      </geometry>
    </collision>
    <collision>
      <origin xyz="0.067 7.960204194457797e-19 0.029" rpy="3.14159265359 -0.349065850399 2.26305581478e-17" />
      <geometry>
        <box size="0.013 0.1 0.008" />
      </geometry>
    </collision>
    <collision>
      <origin xyz="0.0897 3.061616997868384e-18 0.047500000000000014" rpy="3.14159265359 -0.0 0.0" />
      <geometry>
        <box size="0.01 0.1 0.01" />
      </geometry>
    </collision>
  </link>
  <link name="BASE">
    <inertial>
      <mass value="47.12" />
      <origin xyz="0.02263 -0.00136 0.27279" rpy="0 -0 0" />
      <inertia ixx="2.27861715" ixy="0.0127815" ixz="0.00094062" iyy="1.9299188" iyz="-0.00016286" izz="0.87692246" />
    </inertial>
    <visual>
      <origin xyz="0.0 0.0 0.0" rpy="-0.0 1.57079632679 0.0" />
      <geometry>
        <mesh filename="package://aizu_spider_tnk_description/urdf/warec/warec-BASE-visual-0.dae" scale="1.0000000000000002 1.0 1.0000000000000002" />
      </geometry>
    </visual>
    <collision>
      <origin xyz="0.2750000000000001 0.0 0.0" rpy="-0.0 1.57079632679 0.0" />
      <geometry>
        <box size="0.22 0.283 0.465" />
      </geometry>
    </collision>
    <collision>
      <origin xyz="0.5481720000000001 -0.164497 -0.04200000000000001" rpy="3.14159265359 8.65956056235e-17 1.57079632679" />
      <geometry>
        <cylinder radius="0.056" length="0.042" />
      </geometry>
    </collision>
    <collision>
      <origin xyz="0.5481720000000001 -0.164497 0.0" rpy="3.14159265359 8.65956056235e-17 1.57079632679" />
      <geometry>
        <cylinder radius="0.04493" length="0.05" />
      </geometry>
    </collision>
    <collision>
      <origin xyz="0.5481720000000001 -0.164497 0.045000000000000005" rpy="3.14159265359 8.65956056235e-17 1.57079632679" />
      <geometry>
        <cylinder radius="0.057" length="0.036" />
      </geometry>
    </collision>
    <collision>
      <origin xyz="0.0 -0.164497 -0.04200000000000001" rpy="3.14159265359 8.65956056235e-17 1.57079632679" />
      <geometry>
        <cylinder radius="0.056" length="0.042" />
      </geometry>
    </collision>
    <collision>
      <origin xyz="0.0 -0.164497 0.0" rpy="3.14159265359 8.65956056235e-17 1.57079632679" />
      <geometry>
        <cylinder radius="0.04493" length="0.05" />
      </geometry>
    </collision>
    <collision>
      <origin xyz="0.0 -0.164497 0.045000000000000005" rpy="3.14159265359 8.65956056235e-17 1.57079632679" />
      <geometry>
        <cylinder radius="0.057" length="0.036" />
      </geometry>
    </collision>
    <collision>
      <origin xyz="0.5481720000000001 0.164497 -0.04200000000000001" rpy="3.14159265359 8.65956056235e-17 1.57079632679" />
      <geometry>
        <cylinder radius="0.056" length="0.042" />
      </geometry>
    </collision>
    <collision>
      <origin xyz="0.5481720000000001 0.164497 0.0" rpy="3.14159265359 8.65956056235e-17 1.57079632679" />
      <geometry>
        <cylinder radius="0.04493" length="0.05" />
      </geometry>
    </collision>
    <collision>
      <origin xyz="0.5481720000000001 0.164497 0.045000000000000005" rpy="3.14159265359 8.65956056235e-17 1.57079632679" />
      <geometry>
        <cylinder radius="0.057" length="0.036" />
      </geometry>
    </collision>
    <collision>
      <origin xyz="0.0 0.164497 -0.04200000000000001" rpy="3.14159265359 8.65956056235e-17 1.57079632679" />
      <geometry>
        <cylinder radius="0.056" length="0.042" />
      </geometry>
    </collision>
    <collision>
      <origin xyz="0.0 0.164497 0.0" rpy="3.14159265359 8.65956056235e-17 1.57079632679" />
      <geometry>
        <cylinder radius="0.04493" length="0.05" />
      </geometry>
    </collision>
    <collision>
      <origin xyz="0.0 0.164497 0.045000000000000005" rpy="3.14159265359 8.65956056235e-17 1.57079632679" />
      <geometry>
        <cylinder radius="0.057" length="0.036" />
      </geometry>
    </collision>
  </link>
  <joint name="RL_HIP_R" type="revolute">
    <origin xyz="-5.000000000000001e-06 0.164905 0.0" rpy="-0.0 1.57079632679 0.0" />
    <axis xyz="1 0 0" />
    <parent link="BASE" />
    <child link="RL_HIP_R" />
    <limit lower="-0.890117918517" upper="2.58308729295" effort="1000" velocity="1000000.0" />
  </joint>
  <joint name="RL_HIP_P" type="revolute">
    <origin xyz="0.0 -1.6653345369377348e-16 -0.16899999999999993" rpy="0.0 -0.0 0.0" />
    <axis xyz="0 1 0" />
    <parent link="RL_HIP_R" />
    <child link="RL_HIP_P" />
    <limit lower="-1.86750229963" upper="1.86750229963" effort="1000" velocity="1000000.0" />
  </joint>
  <joint name="RL_HIP_Y" type="continuous">
    <origin xyz="0.0 2.7755575615628914e-17 -0.24100000000000005" rpy="0.0 -0.0 0.0" />
    <axis xyz="0 0 1" />
    <parent link="RL_HIP_P" />
    <child link="RL_HIP_Y" />
  </joint>
  <joint name="RL_KNEE_P" type="revolute">
    <origin xyz="0.046 1.942890293094024e-16 -0.07804000000000028" rpy="0.0 -0.0 0.0" />
    <axis xyz="0 1 0" />
    <parent link="RL_HIP_Y" />
    <child link="RL_KNEE_P" />
    <limit lower="-2.84488668075" upper="0.663225115758" effort="1000" velocity="1000000.0" />
  </joint>
  <joint name="RL_ANKLE_Y" type="continuous">
    <origin xyz="-0.045999999999999854 2.7755575615628914e-17 -0.2130000000000002" rpy="0.0 -0.0 0.0" />
    <axis xyz="0 0 1" />
    <parent link="RL_KNEE_P" />
    <child link="RL_ANKLE_Y" />
  </joint>
  <joint name="RL_ANKLE_P" type="revolute">
    <origin xyz="0.0 0.0 -0.07999999999999963" rpy="0.0 -0.0 0.0" />
    <axis xyz="0 1 0" />
    <parent link="RL_ANKLE_Y" />
    <child link="RL_ANKLE_P" />
    <limit lower="-1.62315620435" upper="1.62315620435" effort="1000" velocity="1000000.0" />
  </joint>
  <joint name="RL_ANKLE_R" type="revolute">
    <origin xyz="0.0 8.326672684688674e-17 -0.15400000000000014" rpy="0.0 -0.0 0.0" />
    <axis xyz="1 0 0" />
    <parent link="RL_ANKLE_P" />
    <child link="RL_ANKLE_R" />
    <limit lower="-1.85004900711" upper="1.85004900711" effort="1000" velocity="1000000.0" />
  </joint>
  <joint name="RL_HOOK" type="fixed">
    <origin xyz="0.0 -4.163336342344337e-16 -0.09549999999999959" rpy="0.0 -0.0 0.0" />
    <parent link="RL_ANKLE_R" />
    <child link="RL_HOOK" />
  </joint>
  <joint name="RR_HIP_R" type="revolute">
    <origin xyz="-5.000000000000001e-06 -0.164905 0.0" rpy="-0.0 1.57079632679 0.0" />
    <axis xyz="1 0 0" />
    <parent link="BASE" />
    <child link="RR_HIP_R" />
    <limit lower="-2.58308729295" upper="0.890117918517" effort="1000" velocity="1000000.0" />
  </joint>
  <joint name="RR_HIP_P" type="revolute">
    <origin xyz="0.0 1.6653345369377348e-16 -0.16899999999999993" rpy="0.0 -0.0 0.0" />
    <axis xyz="0 1 0" />
    <parent link="RR_HIP_R" />
    <child link="RR_HIP_P" />
    <limit lower="-1.86750229963" upper="1.86750229963" effort="1000" velocity="1000000.0" />
  </joint>
  <joint name="RR_HIP_Y" type="continuous">
    <origin xyz="0.0 -2.7755575615628914e-17 -0.24100000000000005" rpy="0.0 -0.0 0.0" />
    <axis xyz="0 0 1" />
    <parent link="RR_HIP_P" />
    <child link="RR_HIP_Y" />
  </joint>
  <joint name="RR_KNEE_P" type="revolute">
    <origin xyz="0.046 -4.440892098500626e-16 -0.07803999999999983" rpy="0.0 -0.0 0.0" />
    <axis xyz="0 1 0" />
    <parent link="RR_HIP_Y" />
    <child link="RR_KNEE_P" />
    <limit lower="-2.84488668075" upper="0.663225115758" effort="1000" velocity="1000000.0" />
  </joint>
  <joint name="RR_ANKLE_Y" type="continuous">
    <origin xyz="-0.045999999999999854 -2.7755575615628914e-17 -0.2130000000000002" rpy="0.0 -0.0 0.0" />
    <axis xyz="0 0 1" />
    <parent link="RR_KNEE_P" />
    <child link="RR_ANKLE_Y" />
  </joint>
  <joint name="RR_ANKLE_P" type="revolute">
    <origin xyz="0.0 0.0 -0.07999999999999952" rpy="0.0 -0.0 0.0" />
    <axis xyz="0 1 0" />
    <parent link="RR_ANKLE_Y" />
    <child link="RR_ANKLE_P" />
    <limit lower="-1.62315620435" upper="1.62315620435" effort="1000" velocity="1000000.0" />
  </joint>
  <joint name="RR_ANKLE_R" type="revolute">
    <origin xyz="0.0 -8.326672684688674e-17 -0.15400000000000014" rpy="0.0 -0.0 0.0" />
    <axis xyz="1 0 0" />
    <parent link="RR_ANKLE_P" />
    <child link="RR_ANKLE_R" />
    <limit lower="-1.85004900711" upper="1.85004900711" effort="1000" velocity="1000000.0" />
  </joint>
  <joint name="RR_HOOK" type="fixed">
    <origin xyz="0.0 -2.7755575615628914e-17 -0.0954999999999997" rpy="0.0 -0.0 0.0" />
    <parent link="RR_ANKLE_R" />
    <child link="RR_HOOK" />
  </joint>
  <joint name="FL_HIP_R" type="revolute">
    <origin xyz="0.5458050000000001 0.164905 0.0" rpy="-0.0 1.57079632679 0.0" />
    <axis xyz="1 0 0" />
    <parent link="BASE" />
    <child link="FL_HIP_R" />
    <limit lower="-2.58308729295" upper="0.890117918517" effort="1000" velocity="1000000.0" />
  </joint>
  <joint name="FL_HIP_P" type="revolute">
    <origin xyz="0.0 2.220446049250313e-16 0.16900000000000026" rpy="0.0 -0.0 0.0" />
    <axis xyz="0 1 0" />
    <parent link="FL_HIP_R" />
    <child link="FL_HIP_P" />
    <limit lower="-1.86750229963" upper="1.86750229963" effort="1000" velocity="1000000.0" />
  </joint>
  <joint name="FL_HIP_Y" type="continuous">
    <origin xyz="0.0 -1.1102230246251565e-16 0.241" rpy="0.0 -0.0 0.0" />
    <axis xyz="0 0 1" />
    <parent link="FL_HIP_P" />
    <child link="FL_HIP_Y" />
  </joint>
  <joint name="FL_KNEE_P" type="revolute">
    <origin xyz="0.046 -8.326672684688674e-17 0.07803999999999989" rpy="0.0 -0.0 0.0" />
    <axis xyz="0 1 0" />
    <parent link="FL_HIP_Y" />
    <child link="FL_KNEE_P" />
    <limit lower="-0.488692190558" upper="2.84488668075" effort="1000" velocity="1000000.0" />
  </joint>
  <joint name="FL_ANKLE_Y" type="continuous">
    <origin xyz="-0.045999999999999264 -4.996003610813204e-16 0.2129999999999994" rpy="0.0 -0.0 0.0" />
    <axis xyz="0 0 1" />
    <parent link="FL_KNEE_P" />
    <child link="FL_ANKLE_Y" />
  </joint>
  <joint name="FL_ANKLE_P" type="revolute">
    <origin xyz="0.0 2.220446049250313e-16 0.08000000000000007" rpy="0.0 -0.0 0.0" />
    <axis xyz="0 1 0" />
    <parent link="FL_ANKLE_Y" />
    <child link="FL_ANKLE_P" />
    <limit lower="-1.62315620435" upper="1.62315620435" effort="1000" velocity="1000000.0" />
  </joint>
  <joint name="FL_ANKLE_R" type="revolute">
    <origin xyz="0.0 -2.7755575615628914e-16 0.15400000000000036" rpy="0.0 -0.0 0.0" />
    <axis xyz="1 0 0" />
    <parent link="FL_ANKLE_P" />
    <child link="FL_ANKLE_R" />
    <limit lower="-1.85004900711" upper="1.85004900711" effort="1000" velocity="1000000.0" />
  </joint>
  <joint name="FL_HOOK" type="fixed">
    <origin xyz="0.0 -1.942890293094024e-16 0.09549999999999992" rpy="0.0 -0.0 0.0" />
    <parent link="FL_ANKLE_R" />
    <child link="FL_HOOK" />
  </joint>
  <joint name="FR_HIP_R" type="revolute">
    <origin xyz="0.5458050000000001 -0.164905 0.0" rpy="-0.0 1.57079632679 0.0" />
    <axis xyz="1 0 0" />
    <parent link="BASE" />
    <child link="FR_HIP_R" />
    <limit lower="-0.890117918517" upper="2.58308729295" effort="1000" velocity="1000000.0" />
  </joint>
  <joint name="FR_HIP_P" type="revolute">
    <origin xyz="0.0 -2.220446049250313e-16 0.16900000000000026" rpy="0.0 -0.0 0.0" />
    <axis xyz="0 1 0" />
    <parent link="FR_HIP_R" />
    <child link="FR_HIP_P" />
    <limit lower="-1.86750229963" upper="1.86750229963" effort="1000" velocity="1000000.0" />
  </joint>
  <joint name="FR_HIP_Y" type="continuous">
    <origin xyz="0.0 1.1102230246251565e-16 0.24099999999999988" rpy="0.0 -0.0 0.0" />
    <axis xyz="0 0 1" />
    <parent link="FR_HIP_P" />
    <child link="FR_HIP_Y" />
  </joint>
  <joint name="FR_KNEE_P" type="revolute">
    <origin xyz="0.046 8.326672684688674e-17 0.07803999999999989" rpy="0.0 -0.0 0.0" />
    <axis xyz="0 1 0" />
    <parent link="FR_HIP_Y" />
    <child link="FR_KNEE_P" />
    <limit lower="-0.663225115758" upper="2.84488668075" effort="1000" velocity="1000000.0" />
  </joint>
  <joint name="FR_ANKLE_Y" type="continuous">
    <origin xyz="-0.04599999999999913 3.608224830031759e-16 0.21300000000000008" rpy="0.0 -0.0 0.0" />
    <axis xyz="0 0 1" />
    <parent link="FR_KNEE_P" />
    <child link="FR_ANKLE_Y" />
  </joint>
  <joint name="FR_ANKLE_P" type="revolute">
    <origin xyz="0.0 -3.3306690738754696e-16 0.08000000000000007" rpy="0.0 -0.0 0.0" />
    <axis xyz="0 1 0" />
    <parent link="FR_ANKLE_Y" />
    <child link="FR_ANKLE_P" />
    <limit lower="-1.62315620435" upper="1.62315620435" effort="1000" velocity="1000000.0" />
  </joint>
  <joint name="FR_ANKLE_R" type="revolute">
    <origin xyz="0.0 -1.6653345369377348e-16 0.15399999999999991" rpy="0.0 -0.0 0.0" />
    <axis xyz="1 0 0" />
    <parent link="FR_ANKLE_P" />
    <child link="FR_ANKLE_R" />
    <limit lower="-1.85004900711" upper="1.85004900711" effort="1000" velocity="1000000.0" />
  </joint>
  <joint name="FR_HOOK" type="fixed">
    <origin xyz="0.0 -2.220446049250313e-16 0.0954999999999997" rpy="0.0 -0.0 0.0" />
    <parent link="FR_ANKLE_R" />
    <child link="FR_HOOK" />
  </joint>
  <link name="RL_wrench">
  </link>
  <joint name="RL_wrench_JOINT" type="fixed">
    <origin xyz="0.0 0.0 0.0" rpy="0.0 -0.0 0.0" />
    <parent link="RL_HOOK" />
    <child link="RL_wrench" />
  </joint>
  <sensor name="RL_wrench_SENSOR" update_rate="20">
    <origin xyz="0.0 0.0 0.0" rpy="0.0 -0.0 0.0" />
    <parent link="RL_HOOK" />
  </sensor>
  <link name="RR_wrench">
  </link>
  <joint name="RR_wrench_JOINT" type="fixed">
    <origin xyz="0.0 0.0 0.0" rpy="0.0 -0.0 0.0" />
    <parent link="RR_HOOK" />
    <child link="RR_wrench" />
  </joint>
  <sensor name="RR_wrench_SENSOR" update_rate="20">
    <origin xyz="0.0 0.0 0.0" rpy="0.0 -0.0 0.0" />
    <parent link="RR_HOOK" />
  </sensor>
  <link name="FL_wrench">
  </link>
  <joint name="FL_wrench_JOINT" type="fixed">
    <origin xyz="0.0 0.0 0.0" rpy="0.0 -0.0 0.0" />
    <parent link="FL_HOOK" />
    <child link="FL_wrench" />
  </joint>
  <sensor name="FL_wrench_SENSOR" update_rate="20">
    <origin xyz="0.0 0.0 0.0" rpy="0.0 -0.0 0.0" />
    <parent link="FL_HOOK" />
  </sensor>
  <link name="FR_wrench">
  </link>
  <joint name="FR_wrench_JOINT" type="fixed">
    <origin xyz="0.0 0.0 0.0" rpy="0.0 -0.0 0.0" />
    <parent link="FR_HOOK" />
    <child link="FR_wrench" />
  </joint>
  <sensor name="FR_wrench_SENSOR" update_rate="20">
    <origin xyz="0.0 0.0 0.0" rpy="0.0 -0.0 0.0" />
    <parent link="FR_HOOK" />
  </sensor>
</robot>
